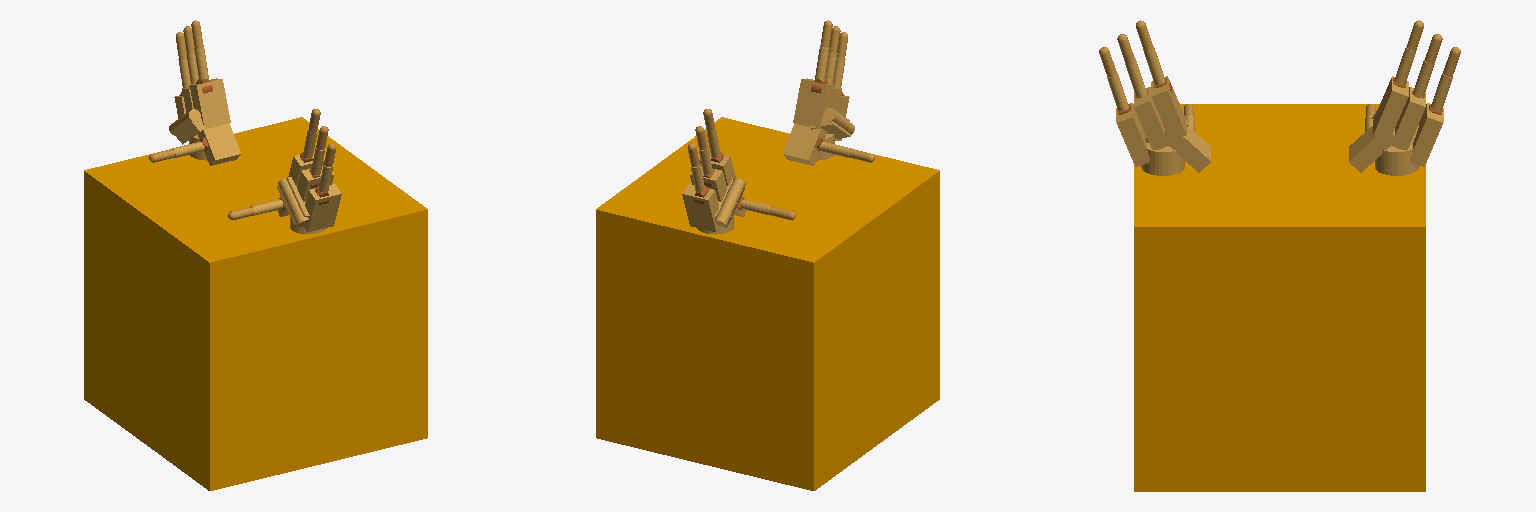
--- Facts derived from the render (not from the file) ---
Views: 3 orthographic renders of the robot side by side, from view 1: azimuth 30°, elevation 25°; view 2: azimuth 150°, elevation 25°; view 3: azimuth 270°, elevation 25°.
Robot: humanoid — 69 links, 68 joints (24 revolute, 44 fixed); root link base; default pose: every joint at zero.
Visible links, largest first — view 1: base, right_palm, left_palm; view 2: base, left_palm, right_palm; view 3: base, right_palm, left_palm.
Link boxes in pixels (x1,y1,x2,y2): base: (84,117,427,490); right_palm: (169,78,240,165); left_palm: (277,151,341,233); base: (596,117,939,490); left_palm: (783,78,854,165); right_palm: (682,151,746,233); base: (1134,104,1425,491); right_palm: (1349,76,1443,175); left_palm: (1116,76,1210,175).
Size in the robot's own frame: 0.5 by 0.6197 by 0.7732 metres.
Geometry: primitives only (box / cylinder / sphere), no mesh files.

URDF robot description (humanoid):
<?xml version="1.0" ?>
<!-- =================================================================================== -->
<!-- |    This document was autogenerated by xacro from /tmp/buildd/sandia-hand-5.1.14/ros/sandia_hand_description/robots/sandia_hand_both_on_box.urdf.xacro | -->
<!-- |    EDITING THIS FILE BY HAND IS NOT RECOMMENDED                                 | -->
<!-- =================================================================================== -->
<robot name="humanoid" xmlns:controller="http://playerstage.sourceforge.net/gazebo/xmlschema/#controller" xmlns:interface="http://playerstage.sourceforge.net/gazebo/xmlschema/#interface" xmlns:sensor="http://playerstage.sourceforge.net/gazebo/xmlschema/#sensor" xmlns:xacro="http://www.ros.org/wiki/xacro">
  <!-- Commenting out urdf with meshes, using simple collision shapes instead -->
  <!--<include filename="$(find sandia_hand_description)/urdf/sandia_hand.urdf.xacro" />-->
  <link name="base">
    <inertial>
      <mass value="0.1"/>
      <origin rpy="0 0 0" xyz="0 0 0.25"/>
      <inertia ixx="0.01" ixy="0" ixz="0" iyy="0.01" iyz="0" izz="0.01"/>
    </inertial>
    <visual>
      <origin rpy="0 0 0" xyz="0 0 0.25"/>
      <geometry>
        <box size="0.5 0.5 0.5"/>
      </geometry>
    </visual>
    <collision>
      <origin rpy="0 0 0" xyz="0 0 0.25"/>
      <geometry>
        <box size="0.5 0.5 0.5"/>
      </geometry>
    </collision>
  </link>
  <joint name="r_hand_base" type="fixed">
    <parent link="base"/>
    <child link="r_hand"/>
  </joint>
  <link name="r_hand"/>
  <joint name="l_hand_base" type="fixed">
    <parent link="base"/>
    <child link="l_hand"/>
  </joint>
  <link name="l_hand"/>
  <link name="right_palm">
    <origin rpy="0 0 0" xyz="0 0 0"/>
    <inertial>
      <mass value="1.303"/>
      <origin xyz="0 0 0"/>
      <!-- solid sphere with 5cm radius -->
      <inertia ixx="0.001303" ixy="0" ixz="0" iyy="0.001303" iyz="0" izz="0.001303"/>
    </inertial>
    <!-- begin simple shape approximation of palm -->
    <collision group="default">
      <origin rpy="0 1.57079632679 -0.9" xyz="0.069 0.016 0.038"/>
      <geometry>
        <cylinder length="0.100" radius="0.013"/>
      </geometry>
    </collision>
    <collision group="other">
      <origin rpy="0.41 0 -0.9" xyz="0.064 0.008 0.021"/>
      <geometry>
        <box size="0.09 .035 .05"/>
      </geometry>
    </collision>
    <collision group="other">
      <origin rpy="0 1.57079632679 0" xyz="0.02 0 -0.005"/>
      <geometry>
        <cylinder length="0.05" radius="0.038"/>
      </geometry>
    </collision>
    <collision group="other">
      <origin rpy="0 0 0.37" xyz="0.11 -0.01 -0.005"/>
      <geometry>
        <box size="0.09 .03 .06"/>
      </geometry>
    </collision>
    <collision group="other">
      <origin rpy="0 0 0.37" xyz="0.09 0.02 -0.005"/>
      <geometry>
        <box size="0.09 .03 .06"/>
      </geometry>
    </collision>
    <collision group="other">
      <origin rpy="0 0 0.37" xyz="0.060 0.05 -0.005"/>
      <geometry>
        <box size="0.09 .03 .06"/>
      </geometry>
    </collision>
    <collision group="other">
      <origin rpy="0 0 0.79" xyz="0.044 -0.04 -0.005"/>
      <geometry>
        <box size="0.09 .03 .06"/>
      </geometry>
    </collision>
    <!--   end simple shape approximation of palm -->
    <!-- begin visual shape approximation of palm -->
    <visual>
      <origin rpy="0 1.57079632679 -0.9" xyz="0.069 0.016 0.038"/>
      <geometry>
        <cylinder length="0.100" radius="0.013"/>
      </geometry>
      <material name="right_sandia_hand_skin">
        <color rgba="0.835 0.655 0.345 1.0"/>
      </material>
    </visual>
    <visual>
      <origin rpy="0.41 0 -0.9" xyz="0.064 0.008 0.021"/>
      <geometry>
        <box size="0.09 .035 .05"/>
      </geometry>
      <material name="right_sandia_hand_skin">
        <color rgba="0.835 0.655 0.345 1.0"/>
      </material>
    </visual>
    <visual>
      <origin rpy="0 1.57079632679 0" xyz="0.02 0 -0.005"/>
      <geometry>
        <cylinder length="0.05" radius="0.038"/>
      </geometry>
      <material name="right_sandia_hand_skin">
        <color rgba="0.835 0.655 0.345 1.0"/>
      </material>
    </visual>
    <visual>
      <origin rpy="0 0 0.37" xyz="0.11 -0.01 -0.005"/>
      <geometry>
        <box size="0.09 .03 .06"/>
      </geometry>
      <material name="right_sandia_hand_skin">
        <color rgba="0.835 0.655 0.345 1.0"/>
      </material>
    </visual>
    <visual>
      <origin rpy="0 0 0.37" xyz="0.09 0.02 -0.005"/>
      <geometry>
        <box size="0.09 .03 .06"/>
      </geometry>
      <material name="right_sandia_hand_skin">
        <color rgba="0.835 0.655 0.345 1.0"/>
      </material>
    </visual>
    <visual>
      <origin rpy="0 0 0.37" xyz="0.060 0.05 -0.005"/>
      <geometry>
        <box size="0.09 .03 .06"/>
      </geometry>
      <material name="right_sandia_hand_skin">
        <color rgba="0.835 0.655 0.345 1.0"/>
      </material>
    </visual>
    <visual>
      <origin rpy="0 0 0.79" xyz="0.044 -0.04 -0.005"/>
      <geometry>
        <box size="0.09 .03 .06"/>
      </geometry>
      <material name="right_sandia_hand_skin">
        <color rgba="0.835 0.655 0.345 1.0"/>
      </material>
    </visual>
    <!--   end visual shape approximation of palm -->
    <!-- begin collision mesh of f2 ->
      <collision group="default">
        <origin xyz="0 0 0" rpy="0 0 0"/>
        <geometry>
          <mesh filename="package://sandia_hand_description/meshes/palm.stl"/>
        </geometry>
      </collision>
      <!-   end collision mesh of f2 -->
    <!-- begin visual mesh of f2    ->
      <visual>
        <origin xyz="0 0 0" rpy="0 0 0"/>
        <geometry>
          <mesh filename="package://sandia_hand_description/meshes/palm.stl"/>
        </geometry>
        <material name="${side}_sandia_hand_skin">
          <color rgba="0.835 0.655 0.345 1.0"/>
        </material>
      </visual>
      <!-   end visual mesh of f2 -->
  </link>
  <joint name="right_sandia_hand_joint" type="fixed">
    <parent link="r_hand"/>
    <child link="right_palm"/>
    <origin rpy="0 -1.57079 0" xyz="0 0.2 0.5"/>
  </joint>
  <link name="right_f0_base">
    <origin rpy="0 0 0" xyz="0 0 0"/>
    <inertial>
      <!-- total mass is 2.303 kg, palm is about 1.303 kg, distribute the rest into _base -->
      <mass value="0.250"/>
      <!-- (2.303 - 1.303) / 4 -->
      <origin xyz="0 0 0"/>
      <!-- model as sphere with radius of 1cm -->
      <inertia ixx="0.00001" ixy="0" ixz="0" iyy="0.00001" iyz="0" izz="0.00001"/>
    </inertial>
  </link>
  <link name="right_f0_fixed_accel">
    <origin rpy="0 0 0" xyz="0 0 0"/>
    <inertial>
      <mass value="0.01"/>
      <origin xyz="0 0 0"/>
      <inertia ixx="0.000001" ixy="0" ixz="0" iyy="0.000001" iyz="0" izz="0.000001"/>
    </inertial>
  </link>
  <link name="right_f0_0">
    <origin rpy="0 0 0" xyz="0 0 0"/>
    <inertial>
      <mass value="0.106"/>
      <!-- F1 -->
      <origin xyz="0 0 0"/>
      <!-- solid cylinder -->
      <inertia ixx="0.000011925" ixy="0" ixz="0" iyy="0.00011505" iyz="0" izz="0.00011505"/>
    </inertial>
    <!-- begin simple shape approximation of f0 -->
    <collision group="default">
      <origin rpy="0 0 0" xyz="0 0 0.003"/>
      <geometry>
        <cylinder length="0.023" radius="0.015"/>
      </geometry>
    </collision>
    <collision group="other">
      <origin rpy="1.57079632679 0 0" xyz="0.011 0 0.003"/>
      <geometry>
        <cylinder length="0.023" radius="0.01"/>
      </geometry>
    </collision>
    <!--   end simple shape approximation of f0 -->
    <!-- begin visual shape approximation of f0 -->
    <visual>
      <origin rpy="0 0 0" xyz="0 0 0.003"/>
      <geometry>
        <cylinder length="0.023" radius="0.015"/>
      </geometry>
      <material name="right_sandia_hand_skin_suntan">
        <color rgba="0.7 0.4 0.2 1.0"/>
      </material>
    </visual>
    <visual>
      <origin rpy="1.57079632679 0 0" xyz="0.011 0 0.003"/>
      <geometry>
        <cylinder length="0.023" radius="0.01"/>
      </geometry>
      <material name="right_sandia_hand_skin_suntan">
        <color rgba="0.7 0.4 0.2 1.0"/>
      </material>
    </visual>
    <!--   end visual shape approximation of f0 -->
    <!-- begin collision mesh of f0 ->
      <collision group="default">
        <origin xyz="0 0 0" rpy="0 0 0"/>
        <geometry>
          <mesh filename="package://sandia_hand_description/meshes/f0.stl"/>
        </geometry>
      </collision>
      <!-   end collision mesh of f0 -->
    <!-- begin visual mesh of f0 ->
      <visual>
        <origin xyz="0 0 0" rpy="0 0 0"/>
        <geometry>
          <mesh filename="package://sandia_hand_description/meshes/f0.stl"/>
        </geometry>
        <material name="${side}_sandia_hand_skin_suntan">
          <color rgba="0.7 0.4 0.2 1.0"/>
        </material>
      </visual>
      <!-   end visual mesh of f0 -->
  </link>
  <link name="right_f0_1">
    <origin rpy="0 0 0" xyz="0 0 0"/>
    <inertial>
      <mass value="0.033"/>
      <!-- F2 -->
      <origin xyz="0 0 0"/>
      <!-- solid cylinder -->
      <inertia ixx="0.00000165" ixy="0" ixz="0" iyy="0.00001316975" iyz="0" izz="0.00001316975"/>
    </inertial>
    <!-- begin simple shape approximation of f1 -->
    <collision group="default">
      <origin rpy="0 1.57079632679 0" xyz="0.024 0 0"/>
      <geometry>
        <cylinder length="0.067" radius="0.01"/>
      </geometry>
    </collision>
    <!--   end simple shape approximation of f1 -->
    <!-- begin visual shape approximation of f1 -->
    <visual>
      <origin rpy="0 1.57079632679 0" xyz="0.024 0 0"/>
      <geometry>
        <cylinder length="0.067" radius="0.01"/>
      </geometry>
      <material name="right_sandia_hand_skin">
        <color rgba="0.835 0.655 0.345 1.0"/>
      </material>
    </visual>
    <!--   end visual shape approximation of f1 -->
    <!-- begin collision mesh of f1 ->
      <collision group="default">
        <origin xyz="0 0 0" rpy="0 0 0"/>
        <geometry>
          <mesh filename="package://sandia_hand_description/meshes/f1.stl"/>
        </geometry>
      </collision>
      <!-   end collision mesh of f1 -->
    <!-- begin visual mesh of f1 ->
      <visual>
        <origin xyz="0 0 0" rpy="0 0 0"/>
        <geometry>
          <mesh filename="package://sandia_hand_description/meshes/f1.stl"/>
        </geometry>
        <material name="${side}_sandia_hand_skin">
          <color rgba="0.835 0.655 0.345 1.0"/>
        </material>
      </visual>
      <!-   end visual mesh of f1 -->
  </link>
  <link name="right_f0_1_accel">
    <origin rpy="0 0 0" xyz="0 0 0"/>
    <inertial>
      <mass value="0.01"/>
      <origin xyz="0 0 0"/>
      <inertia ixx="0.000001" ixy="0" ixz="0" iyy="0.000001" iyz="0" izz="0.000001"/>
    </inertial>
  </link>
  <link name="right_f0_2">
    <origin rpy="0 0 0" xyz="0 0 0"/>
    <inertial>
      <mass value="0.033"/>
      <!-- F3 -->
      <origin xyz="0 0 0"/>
      <!-- solid cylinder -->
      <inertia ixx="0.0000013365" ixy="0" ixz="0" iyy="0.000009603" iyz="0" izz="0.000009603"/>
    </inertial>
    <!-- begin simple shape approximation of f2 -->
    <collision group="default">
      <origin rpy="0 1.57079632679 0" xyz="0.024 0 0"/>
      <geometry>
        <cylinder length="0.057" radius="0.009"/>
      </geometry>
    </collision>
    <collision group="other">
      <origin rpy="0 0 0" xyz="0.052 0 0"/>
      <geometry>
        <sphere radius="0.009"/>
      </geometry>
    </collision>
    <!--   end simple shape approximation of f2 -->
    <!-- begin visual shape approximation of f2 -->
    <visual>
      <origin rpy="0 1.57079632679 0" xyz="0.024 0 0"/>
      <geometry>
        <cylinder length="0.057" radius="0.009"/>
      </geometry>
      <material name="right_sandia_hand_skin_suntan">
        <color rgba="0.8 0.6 0.3 1.0"/>
      </material>
    </visual>
    <visual>
      <origin rpy="0 0 0" xyz="0.052 0 0"/>
      <geometry>
        <sphere radius="0.009"/>
      </geometry>
      <material name="right_sandia_hand_skin_suntan">
        <color rgba="0.8 0.6 0.3 1.0"/>
      </material>
    </visual>
    <!-- begin collision mesh of f2    ->
      <collision group="default">
        <origin xyz="0 0 0" rpy="0 0 0"/>
        <geometry>
          <mesh filename="package://sandia_hand_description/meshes/f2.stl"/>
        </geometry>
      </collision>
      <!-   end collision mesh of f2 -->
    <!-- begin visual mesh of f2    ->
      <visual>
        <origin xyz="0 0 0" rpy="0 0 0"/>
        <geometry>
          <mesh filename="package://sandia_hand_description/meshes/f2.stl"/>
        </geometry>
        <material name="${side}_sandia_hand_skin_suntan">
          <color rgba="0.8 0.6 0.3 1.0"/>
        </material>
      </visual>
      <!-   end visual mesh of f2 -->
  </link>
  <link name="right_f0_2_accel">
    <origin rpy="0 0 0" xyz="0 0 0"/>
    <inertial>
      <mass value="0.01"/>
      <origin xyz="0 0 0"/>
      <inertia ixx="0.000001" ixy="0" ixz="0" iyy="0.000001" iyz="0" izz="0.000001"/>
    </inertial>
  </link>
  <joint name="right_f0_base" type="fixed">
    <parent link="right_palm"/>
    <child link="right_f0_base"/>
    <origin rpy="0 0 0.3" xyz="0.14 0.0 0"/>
  </joint>
  <joint name="right_f0_j0" type="revolute">
    <axis xyz="0 0 1"/>
    <parent link="right_f0_base"/>
    <child link="right_f0_0"/>
    <limit effort="11" lower="-1.57079632679" upper="1.57079632679" velocity="-1"/>
    <safety_controller k_position="1000.0" k_velocity="1000.0" soft_lower_limit="-11.57079" soft_upper_limit="11.57079"/>
    <dynamics damping="1.0"/>
    <origin rpy="0 0 0" xyz="0 0 0"/>
  </joint>
  <joint name="right_f0_j1" type="revolute">
    <axis xyz="0 0 1"/>
    <parent link="right_f0_0"/>
    <child link="right_f0_1"/>
    <limit effort="28" lower="-1.57079632679" upper="1.57079632679" velocity="-1"/>
    <safety_controller k_position="1000.0" k_velocity="1000.0" soft_lower_limit="-11.57079" soft_upper_limit="11.57079"/>
    <dynamics damping="1.0"/>
    <origin rpy="1.57079632679 0 0" xyz="0.028 0 0"/>
  </joint>
  <joint name="right_f0_j2" type="revolute">
    <axis xyz="0 0 1"/>
    <parent link="right_f0_1"/>
    <child link="right_f0_2"/>
    <origin rpy="0 0 0" xyz="0.05 0 0"/>
    <safety_controller k_position="1000.0" k_velocity="1000.0" soft_lower_limit="-11.57079" soft_upper_limit="11.57079"/>
    <dynamics damping="1.0"/>
    <limit effort="28" lower="-1.57079632679" upper="1.57079632679" velocity="-1"/>
  </joint>
  <joint name="right_f0_fixed_accel" type="fixed">
    <parent link="right_f0_base"/>
    <child link="right_f0_fixed_accel"/>
    <origin rpy="0 0 0" xyz="-0.05 0 0"/>
  </joint>
  <joint name="right_f0_1_accel" type="fixed">
    <parent link="right_f0_1"/>
    <child link="right_f0_1_accel"/>
    <origin rpy="-1.57079632679 0 0" xyz="0.03 0 0"/>
  </joint>
  <joint name="right_f0_2_accel" type="fixed">
    <parent link="right_f0_2"/>
    <child link="right_f0_2_accel"/>
    <origin rpy="-1.57079632679 0 0" xyz="0.04 0 0"/>
  </joint>
  <transmission name="right_f0_j0" type="pr2_mechanism_model/SimpleTransmission">
    <joint name="right_f0_j0"/>
    <actuator name="right_f0_j0_motor"/>
    <mechanicalReduction>1</mechanicalReduction>
  </transmission>
  <transmission name="right_f0_j1" type="pr2_mechanism_model/SimpleTransmission">
    <joint name="right_f0_j1"/>
    <actuator name="right_f0_j1_motor"/>
    <mechanicalReduction>1</mechanicalReduction>
  </transmission>
  <transmission name="right_f0_j2" type="pr2_mechanism_model/SimpleTransmission">
    <joint name="right_f0_j2"/>
    <actuator name="right_f0_j2_motor"/>
    <mechanicalReduction>1</mechanicalReduction>
  </transmission>
  <gazebo reference="right_f0_base">
    <mu1>0.9</mu1>
    <mu2>0.9</mu2>
    <kp>1000000.0</kp>
    <kd>1.0</kd>
    <maxVel>0.1</maxVel>
    <minDepth>0.001</minDepth>
    <material>Gazebo/FlatBlack</material>
  </gazebo>
  <gazebo reference="right_f0_0">
    <mu1>0.9</mu1>
    <mu2>0.9</mu2>
    <kp>1000000.0</kp>
    <kd>1.0</kd>
    <maxVel>0.1</maxVel>
    <minDepth>0.003</minDepth>
    <maxContacts>1</maxContacts>
    <material>Gazebo/FlatBlack</material>
  </gazebo>
  <gazebo reference="right_f0_1">
    <mu1>0.9</mu1>
    <mu2>0.9</mu2>
    <kp>1000000.0</kp>
    <kd>1.0</kd>
    <maxVel>0.1</maxVel>
    <minDepth>0.003</minDepth>
    <maxContacts>1</maxContacts>
    <material>Gazebo/FlatBlack</material>
  </gazebo>
  <gazebo reference="right_f0_2">
    <mu1>0.9</mu1>
    <mu2>0.9</mu2>
    <kp>1000000.0</kp>
    <kd>1.0</kd>
    <maxVel>0.1</maxVel>
    <minDepth>0.003</minDepth>
    <maxContacts>1</maxContacts>
    <material>Gazebo/FlatBlack</material>
  </gazebo>
  <gazebo reference="right_f0_j0">
    <cfmDamping>1</cfmDamping>
  </gazebo>
  <gazebo reference="right_f0_j1">
    <cfmDamping>1</cfmDamping>
  </gazebo>
  <gazebo reference="right_f0_j2">
    <cfmDamping>1</cfmDamping>
  </gazebo>
  <link name="right_f1_base">
    <origin rpy="0 0 0" xyz="0 0 0"/>
    <inertial>
      <!-- total mass is 2.303 kg, palm is about 1.303 kg, distribute the rest into _base -->
      <mass value="0.250"/>
      <!-- (2.303 - 1.303) / 4 -->
      <origin xyz="0 0 0"/>
      <!-- model as sphere with radius of 1cm -->
      <inertia ixx="0.00001" ixy="0" ixz="0" iyy="0.00001" iyz="0" izz="0.00001"/>
    </inertial>
  </link>
  <link name="right_f1_fixed_accel">
    <origin rpy="0 0 0" xyz="0 0 0"/>
    <inertial>
      <mass value="0.01"/>
      <origin xyz="0 0 0"/>
      <inertia ixx="0.000001" ixy="0" ixz="0" iyy="0.000001" iyz="0" izz="0.000001"/>
    </inertial>
  </link>
  <link name="right_f1_0">
    <origin rpy="0 0 0" xyz="0 0 0"/>
    <inertial>
      <mass value="0.106"/>
      <!-- F1 -->
      <origin xyz="0 0 0"/>
      <!-- solid cylinder -->
      <inertia ixx="0.000011925" ixy="0" ixz="0" iyy="0.00011505" iyz="0" izz="0.00011505"/>
    </inertial>
    <!-- begin simple shape approximation of f0 -->
    <collision group="default">
      <origin rpy="0 0 0" xyz="0 0 0.003"/>
      <geometry>
        <cylinder length="0.023" radius="0.015"/>
      </geometry>
    </collision>
    <collision group="other">
      <origin rpy="1.57079632679 0 0" xyz="0.011 0 0.003"/>
      <geometry>
        <cylinder length="0.023" radius="0.01"/>
      </geometry>
    </collision>
    <!--   end simple shape approximation of f0 -->
    <!-- begin visual shape approximation of f0 -->
    <visual>
      <origin rpy="0 0 0" xyz="0 0 0.003"/>
      <geometry>
        <cylinder length="0.023" radius="0.015"/>
      </geometry>
      <material name="right_sandia_hand_skin_suntan">
        <color rgba="0.7 0.4 0.2 1.0"/>
      </material>
    </visual>
    <visual>
      <origin rpy="1.57079632679 0 0" xyz="0.011 0 0.003"/>
      <geometry>
        <cylinder length="0.023" radius="0.01"/>
      </geometry>
      <material name="right_sandia_hand_skin_suntan">
        <color rgba="0.7 0.4 0.2 1.0"/>
      </material>
    </visual>
    <!--   end visual shape approximation of f0 -->
    <!-- begin collision mesh of f0 ->
      <collision group="default">
        <origin xyz="0 0 0" rpy="0 0 0"/>
        <geometry>
          <mesh filename="package://sandia_hand_description/meshes/f0.stl"/>
        </geometry>
      </collision>
      <!-   end collision mesh of f0 -->
    <!-- begin visual mesh of f0 ->
      <visual>
        <origin xyz="0 0 0" rpy="0 0 0"/>
        <geometry>
          <mesh filename="package://sandia_hand_description/meshes/f0.stl"/>
        </geometry>
        <material name="${side}_sandia_hand_skin_suntan">
          <color rgba="0.7 0.4 0.2 1.0"/>
        </material>
      </visual>
      <!-   end visual mesh of f0 -->
  </link>
  <link name="right_f1_1">
    <origin rpy="0 0 0" xyz="0 0 0"/>
    <inertial>
      <mass value="0.033"/>
      <!-- F2 -->
      <origin xyz="0 0 0"/>
      <!-- solid cylinder -->
      <inertia ixx="0.00000165" ixy="0" ixz="0" iyy="0.00001316975" iyz="0" izz="0.00001316975"/>
    </inertial>
    <!-- begin simple shape approximation of f1 -->
    <collision group="default">
      <origin rpy="0 1.57079632679 0" xyz="0.024 0 0"/>
      <geometry>
        <cylinder length="0.067" radius="0.01"/>
      </geometry>
    </collision>
    <!--   end simple shape approximation of f1 -->
    <!-- begin visual shape approximation of f1 -->
    <visual>
      <origin rpy="0 1.57079632679 0" xyz="0.024 0 0"/>
      <geometry>
        <cylinder length="0.067" radius="0.01"/>
      </geometry>
      <material name="right_sandia_hand_skin">
        <color rgba="0.835 0.655 0.345 1.0"/>
      </material>
    </visual>
    <!--   end visual shape approximation of f1 -->
    <!-- begin collision mesh of f1 ->
      <collision group="default">
        <origin xyz="0 0 0" rpy="0 0 0"/>
        <geometry>
          <mesh filename="package://sandia_hand_description/meshes/f1.stl"/>
        </geometry>
      </collision>
      <!-   end collision mesh of f1 -->
    <!-- begin visual mesh of f1 ->
      <visual>
        <origin xyz="0 0 0" rpy="0 0 0"/>
        <geometry>
          <mesh filename="package://sandia_hand_description/meshes/f1.stl"/>
        </geometry>
        <material name="${side}_sandia_hand_skin">
          <color rgba="0.835 0.655 0.345 1.0"/>
        </material>
      </visual>
      <!-   end visual mesh of f1 -->
  </link>
  <link name="right_f1_1_accel">
    <origin rpy="0 0 0" xyz="0 0 0"/>
    <inertial>
      <mass value="0.01"/>
      <origin xyz="0 0 0"/>
      <inertia ixx="0.000001" ixy="0" ixz="0" iyy="0.000001" iyz="0" izz="0.000001"/>
    </inertial>
  </link>
  <link name="right_f1_2">
    <origin rpy="0 0 0" xyz="0 0 0"/>
    <inertial>
      <mass value="0.033"/>
      <!-- F3 -->
      <origin xyz="0 0 0"/>
      <!-- solid cylinder -->
      <inertia ixx="0.0000013365" ixy="0" ixz="0" iyy="0.000009603" iyz="0" izz="0.000009603"/>
    </inertial>
    <!-- begin simple shape approximation of f2 -->
    <collision group="default">
      <origin rpy="0 1.57079632679 0" xyz="0.024 0 0"/>
      <geometry>
        <cylinder length="0.057" radius="0.009"/>
      </geometry>
    </collision>
    <collision group="other">
      <origin rpy="0 0 0" xyz="0.052 0 0"/>
      <geometry>
        <sphere radius="0.009"/>
      </geometry>
    </collision>
    <!--   end simple shape approximation of f2 -->
    <!-- begin visual shape approximation of f2 -->
    <visual>
      <origin rpy="0 1.57079632679 0" xyz="0.024 0 0"/>
      <geometry>
        <cylinder length="0.057" radius="0.009"/>
      </geometry>
      <material name="right_sandia_hand_skin_suntan">
        <color rgba="0.8 0.6 0.3 1.0"/>
      </material>
    </visual>
    <visual>
      <origin rpy="0 0 0" xyz="0.052 0 0"/>
      <geometry>
        <sphere radius="0.009"/>
      </geometry>
      <material name="right_sandia_hand_skin_suntan">
        <color rgba="0.8 0.6 0.3 1.0"/>
      </material>
    </visual>
    <!-- begin collision mesh of f2    ->
      <collision group="default">
        <origin xyz="0 0 0" rpy="0 0 0"/>
        <geometry>
          <mesh filename="package://sandia_hand_description/meshes/f2.stl"/>
        </geometry>
      </collision>
      <!-   end collision mesh of f2 -->
    <!-- begin visual mesh of f2    ->
      <visual>
        <origin xyz="0 0 0" rpy="0 0 0"/>
        <geometry>
          <mesh filename="package://sandia_hand_description/meshes/f2.stl"/>
        </geometry>
        <material name="${side}_sandia_hand_skin_suntan">
          <color rgba="0.8 0.6 0.3 1.0"/>
        </material>
      </visual>
      <!-   end visual mesh of f2 -->
  </link>
  <link name="right_f1_2_accel">
    <origin rpy="0 0 0" xyz="0 0 0"/>
    <inertial>
      <mass value="0.01"/>
      <origin xyz="0 0 0"/>
      <inertia ixx="0.000001" ixy="0" ixz="0" iyy="0.000001" iyz="0" izz="0.000001"/>
    </inertial>
  </link>
  <joint name="right_f1_base" type="fixed">
    <parent link="right_palm"/>
    <child link="right_f1_base"/>
    <origin rpy="0 0 0.3" xyz="0.115 0.03122 0"/>
  </joint>
  <joint name="right_f1_j0" type="revolute">
    <axis xyz="0 0 1"/>
    <parent link="right_f1_base"/>
    <child link="right_f1_0"/>
    <limit effort="11" lower="-1.57079632679" upper="1.57079632679" velocity="-1"/>
    <safety_controller k_position="1000.0" k_velocity="1000.0" soft_lower_limit="-11.57079" soft_upper_limit="11.57079"/>
    <dynamics damping="1.0"/>
    <origin rpy="0 0 0" xyz="0 0 0"/>
  </joint>
  <joint name="right_f1_j1" type="revolute">
    <axis xyz="0 0 1"/>
    <parent link="right_f1_0"/>
    <child link="right_f1_1"/>
    <limit effort="28" lower="-1.57079632679" upper="1.57079632679" velocity="-1"/>
    <safety_controller k_position="1000.0" k_velocity="1000.0" soft_lower_limit="-11.57079" soft_upper_limit="11.57079"/>
    <dynamics damping="1.0"/>
    <origin rpy="1.57079632679 0 0" xyz="0.028 0 0"/>
  </joint>
  <joint name="right_f1_j2" type="revolute">
    <axis xyz="0 0 1"/>
    <parent link="right_f1_1"/>
    <child link="right_f1_2"/>
    <origin rpy="0 0 0" xyz="0.05 0 0"/>
    <safety_controller k_position="1000.0" k_velocity="1000.0" soft_lower_limit="-11.57079" soft_upper_limit="11.57079"/>
    <dynamics damping="1.0"/>
    <limit effort="28" lower="-1.57079632679" upper="1.57079632679" velocity="-1"/>
  </joint>
  <joint name="right_f1_fixed_accel" type="fixed">
    <parent link="right_f1_base"/>
    <child link="right_f1_fixed_accel"/>
    <origin rpy="0 0 0" xyz="-0.05 0 0"/>
  </joint>
  <joint name="right_f1_1_accel" type="fixed">
    <parent link="right_f1_1"/>
    <child link="right_f1_1_accel"/>
    <origin rpy="-1.57079632679 0 0" xyz="0.03 0 0"/>
  </joint>
  <joint name="right_f1_2_accel" type="fixed">
    <parent link="right_f1_2"/>
    <child link="right_f1_2_accel"/>
    <origin rpy="-1.57079632679 0 0" xyz="0.04 0 0"/>
  </joint>
  <transmission name="right_f1_j0" type="pr2_mechanism_model/SimpleTransmission">
    <joint name="right_f1_j0"/>
    <actuator name="right_f1_j0_motor"/>
    <mechanicalReduction>1</mechanicalReduction>
  </transmission>
  <transmission name="right_f1_j1" type="pr2_mechanism_model/SimpleTransmission">
    <joint name="right_f1_j1"/>
    <actuator name="right_f1_j1_motor"/>
    <mechanicalReduction>1</mechanicalReduction>
  </transmission>
  <transmission name="right_f1_j2" type="pr2_mechanism_model/SimpleTransmission">
    <joint name="right_f1_j2"/>
    <actuator name="right_f1_j2_motor"/>
    <mechanicalReduction>1</mechanicalReduction>
  </transmission>
  <gazebo reference="right_f1_base">
    <mu1>0.9</mu1>
    <mu2>0.9</mu2>
    <kp>1000000.0</kp>
    <kd>1.0</kd>
    <maxVel>0.1</maxVel>
    <minDepth>0.001</minDepth>
    <material>Gazebo/FlatBlack</material>
  </gazebo>
  <gazebo reference="right_f1_0">
    <mu1>0.9</mu1>
    <mu2>0.9</mu2>
    <kp>1000000.0</kp>
    <kd>1.0</kd>
    <maxVel>0.1</maxVel>
    <minDepth>0.003</minDepth>
    <maxContacts>1</maxContacts>
    <material>Gazebo/FlatBlack</material>
  </gazebo>
  <gazebo reference="right_f1_1">
    <mu1>0.9</mu1>
    <mu2>0.9</mu2>
    <kp>1000000.0</kp>
    <kd>1.0</kd>
    <maxVel>0.1</maxVel>
    <minDepth>0.003</minDepth>
    <maxContacts>1</maxContacts>
    <material>Gazebo/FlatBlack</material>
  </gazebo>
  <gazebo reference="right_f1_2">
    <mu1>0.9</mu1>
    <mu2>0.9</mu2>
    <kp>1000000.0</kp>
    <kd>1.0</kd>
    <maxVel>0.1</maxVel>
    <minDepth>0.003</minDepth>
    <maxContacts>1</maxContacts>
    <material>Gazebo/FlatBlack</material>
  </gazebo>
  <gazebo reference="right_f1_j0">
    <cfmDamping>1</cfmDamping>
  </gazebo>
  <gazebo reference="right_f1_j1">
    <cfmDamping>1</cfmDamping>
  </gazebo>
  <gazebo reference="right_f1_j2">
    <cfmDamping>1</cfmDamping>
  </gazebo>
  <link name="right_f2_base">
    <origin rpy="0 0 0" xyz="0 0 0"/>
    <inertial>
      <!-- total mass is 2.303 kg, palm is about 1.303 kg, distribute the rest into _base -->
      <mass value="0.250"/>
      <!-- (2.303 - 1.303) / 4 -->
      <origin xyz="0 0 0"/>
      <!-- model as sphere with radius of 1cm -->
      <inertia ixx="0.00001" ixy="0" ixz="0" iyy="0.00001" iyz="0" izz="0.00001"/>
    </inertial>
  </link>
  <link name="right_f2_fixed_accel">
    <origin rpy="0 0 0" xyz="0 0 0"/>
    <inertial>
      <mass value="0.01"/>
      <origin xyz="0 0 0"/>
      <inertia ixx="0.000001" ixy="0" ixz="0" iyy="0.000001" iyz="0" izz="0.000001"/>
    </inertial>
  </link>
  <link name="right_f2_0">
    <origin rpy="0 0 0" xyz="0 0 0"/>
    <inertial>
      <mass value="0.106"/>
      <!-- F1 -->
      <origin xyz="0 0 0"/>
      <!-- solid cylinder -->
      <inertia ixx="0.000011925" ixy="0" ixz="0" iyy="0.00011505" iyz="0" izz="0.00011505"/>
    </inertial>
    <!-- begin simple shape approximation of f0 -->
    <collision group="default">
      <origin rpy="0 0 0" xyz="0 0 0.003"/>
      <geometry>
        <cylinder length="0.023" radius="0.015"/>
      </geometry>
    </collision>
    <collision group="other">
      <origin rpy="1.57079632679 0 0" xyz="0.011 0 0.003"/>
      <geometry>
        <cylinder length="0.023" radius="0.01"/>
      </geometry>
    </collision>
    <!--   end simple shape approximation of f0 -->
    <!-- begin visual shape approximation of f0 -->
    <visual>
      <origin rpy="0 0 0" xyz="0 0 0.003"/>
      <geometry>
        <cylinder length="0.023" radius="0.015"/>
      </geometry>
      <material name="right_sandia_hand_skin_suntan">
        <color rgba="0.7 0.4 0.2 1.0"/>
      </material>
    </visual>
    <visual>
      <origin rpy="1.57079632679 0 0" xyz="0.011 0 0.003"/>
      <geometry>
        <cylinder length="0.023" radius="0.01"/>
      </geometry>
      <material name="right_sandia_hand_skin_suntan">
        <color rgba="0.7 0.4 0.2 1.0"/>
      </material>
    </visual>
    <!--   end visual shape approximation of f0 -->
    <!-- begin collision mesh of f0 ->
      <collision group="default">
        <origin xyz="0 0 0" rpy="0 0 0"/>
        <geometry>
          <mesh filename="package://sandia_hand_description/meshes/f0.stl"/>
        </geometry>
      </collision>
      <!-   end collision mesh of f0 -->
    <!-- begin visual mesh of f0 ->
      <visual>
        <origin xyz="0 0 0" rpy="0 0 0"/>
        <geometry>
          <mesh filename="package://sandia_hand_description/meshes/f0.stl"/>
        </geometry>
        <material name="${side}_sandia_hand_skin_suntan">
          <color rgba="0.7 0.4 0.2 1.0"/>
        </material>
      </visual>
      <!-   end visual mesh of f0 -->
  </link>
  <link name="right_f2_1">
    <origin rpy="0 0 0" xyz="0 0 0"/>
    <inertial>
      <mass value="0.033"/>
      <!-- F2 -->
      <origin xyz="0 0 0"/>
      <!-- solid cylinder -->
      <inertia ixx="0.00000165" ixy="0" ixz="0" iyy="0.00001316975" iyz="0" izz="0.00001316975"/>
    </inertial>
    <!-- begin simple shape approximation of f1 -->
    <collision group="default">
      <origin rpy="0 1.57079632679 0" xyz="0.024 0 0"/>
      <geometry>
        <cylinder length="0.067" radius="0.01"/>
      </geometry>
    </collision>
    <!--   end simple shape approximation of f1 -->
    <!-- begin visual shape approximation of f1 -->
    <visual>
      <origin rpy="0 1.57079632679 0" xyz="0.024 0 0"/>
      <geometry>
        <cylinder length="0.067" radius="0.01"/>
      </geometry>
      <material name="right_sandia_hand_skin">
        <color rgba="0.835 0.655 0.345 1.0"/>
      </material>
    </visual>
    <!--   end visual shape approximation of f1 -->
    <!-- begin collision mesh of f1 ->
      <collision group="default">
        <origin xyz="0 0 0" rpy="0 0 0"/>
        <geometry>
          <mesh filename="package://sandia_hand_description/meshes/f1.stl"/>
        </geometry>
      </collision>
      <!-   end collision mesh of f1 -->
    <!-- begin visual mesh of f1 ->
      <visual>
        <origin xyz="0 0 0" rpy="0 0 0"/>
        <geometry>
          <mesh filename="package://sandia_hand_description/meshes/f1.stl"/>
        </geometry>
        <material name="${side}_sandia_hand_skin">
          <color rgba="0.835 0.655 0.345 1.0"/>
        </material>
      </visual>
      <!-   end visual mesh of f1 -->
  </link>
  <link name="right_f2_1_accel">
    <origin rpy="0 0 0" xyz="0 0 0"/>
    <inertial>
      <mass value="0.01"/>
      <origin xyz="0 0 0"/>
      <inertia ixx="0.000001" ixy="0" ixz="0" iyy="0.000001" iyz="0" izz="0.000001"/>
    </inertial>
  </link>
  <link name="right_f2_2">
    <origin rpy="0 0 0" xyz="0 0 0"/>
    <inertial>
      <mass value="0.033"/>
      <!-- F3 -->
      <origin xyz="0 0 0"/>
      <!-- solid cylinder -->
      <inertia ixx="0.0000013365" ixy="0" ixz="0" iyy="0.000009603" iyz="0" izz="0.000009603"/>
    </inertial>
    <!-- begin simple shape approximation of f2 -->
    <collision group="default">
      <origin rpy="0 1.57079632679 0" xyz="0.024 0 0"/>
      <geometry>
        <cylinder length="0.057" radius="0.009"/>
      </geometry>
    </collision>
    <collision group="other">
      <origin rpy="0 0 0" xyz="0.052 0 0"/>
      <geometry>
        <sphere radius="0.009"/>
      </geometry>
    </collision>
    <!--   end simple shape approximation of f2 -->
    <!-- begin visual shape approximation of f2 -->
    <visual>
      <origin rpy="0 1.57079632679 0" xyz="0.024 0 0"/>
      <geometry>
        <cylinder length="0.057" radius="0.009"/>
      </geometry>
      <material name="right_sandia_hand_skin_suntan">
        <color rgba="0.8 0.6 0.3 1.0"/>
      </material>
    </visual>
    <visual>
      <origin rpy="0 0 0" xyz="0.052 0 0"/>
      <geometry>
        <sphere radius="0.009"/>
      </geometry>
      <material name="right_sandia_hand_skin_suntan">
        <color rgba="0.8 0.6 0.3 1.0"/>
      </material>
    </visual>
    <!-- begin collision mesh of f2    ->
      <collision group="default">
        <origin xyz="0 0 0" rpy="0 0 0"/>
        <geometry>
          <mesh filename="package://sandia_hand_description/meshes/f2.stl"/>
        </geometry>
      </collision>
      <!-   end collision mesh of f2 -->
    <!-- begin visual mesh of f2    ->
      <visual>
        <origin xyz="0 0 0" rpy="0 0 0"/>
        <geometry>
          <mesh filename="package://sandia_hand_description/meshes/f2.stl"/>
        </geometry>
        <material name="${side}_sandia_hand_skin_suntan">
          <color rgba="0.8 0.6 0.3 1.0"/>
        </material>
      </visual>
      <!-   end visual mesh of f2 -->
  </link>
  <link name="right_f2_2_accel">
    <origin rpy="0 0 0" xyz="0 0 0"/>
    <inertial>
      <mass value="0.01"/>
      <origin xyz="0 0 0"/>
      <inertia ixx="0.000001" ixy="0" ixz="0" iyy="0.000001" iyz="0" izz="0.000001"/>
    </inertial>
  </link>
  <joint name="right_f2_base" type="fixed">
    <parent link="right_palm"/>
    <child link="right_f2_base"/>
    <origin rpy="0 0 0.3" xyz="0.09 0.06245 0"/>
  </joint>
  <joint name="right_f2_j0" type="revolute">
    <axis xyz="0 0 1"/>
    <parent link="right_f2_base"/>
    <child link="right_f2_0"/>
    <limit effort="11" lower="-1.57079632679" upper="1.57079632679" velocity="-1"/>
    <safety_controller k_position="1000.0" k_velocity="1000.0" soft_lower_limit="-11.57079" soft_upper_limit="11.57079"/>
    <dynamics damping="1.0"/>
    <origin rpy="0 0 0" xyz="0 0 0"/>
  </joint>
  <joint name="right_f2_j1" type="revolute">
    <axis xyz="0 0 1"/>
    <parent link="right_f2_0"/>
    <child link="right_f2_1"/>
    <limit effort="28" lower="-1.57079632679" upper="1.57079632679" velocity="-1"/>
    <safety_controller k_position="1000.0" k_velocity="1000.0" soft_lower_limit="-11.57079" soft_upper_limit="11.57079"/>
    <dynamics damping="1.0"/>
    <origin rpy="1.57079632679 0 0" xyz="0.028 0 0"/>
  </joint>
  <joint name="right_f2_j2" type="revolute">
    <axis xyz="0 0 1"/>
    <parent link="right_f2_1"/>
    <child link="right_f2_2"/>
    <origin rpy="0 0 0" xyz="0.05 0 0"/>
    <safety_controller k_position="1000.0" k_velocity="1000.0" soft_lower_limit="-11.57079" soft_upper_limit="11.57079"/>
    <dynamics damping="1.0"/>
    <limit effort="28" lower="-1.57079632679" upper="1.57079632679" velocity="-1"/>
  </joint>
  <joint name="right_f2_fixed_accel" type="fixed">
    <parent link="right_f2_base"/>
    <child link="right_f2_fixed_accel"/>
    <origin rpy="0 0 0" xyz="-0.05 0 0"/>
  </joint>
  <joint name="right_f2_1_accel" type="fixed">
    <parent link="right_f2_1"/>
    <child link="right_f2_1_accel"/>
    <origin rpy="-1.57079632679 0 0" xyz="0.03 0 0"/>
  </joint>
  <joint name="right_f2_2_accel" type="fixed">
    <parent link="right_f2_2"/>
    <child link="right_f2_2_accel"/>
    <origin rpy="-1.57079632679 0 0" xyz="0.04 0 0"/>
  </joint>
  <transmission name="right_f2_j0" type="pr2_mechanism_model/SimpleTransmission">
    <joint name="right_f2_j0"/>
    <actuator name="right_f2_j0_motor"/>
    <mechanicalReduction>1</mechanicalReduction>
  </transmission>
  <transmission name="right_f2_j1" type="pr2_mechanism_model/SimpleTransmission">
    <joint name="right_f2_j1"/>
    <actuator name="right_f2_j1_motor"/>
    <mechanicalReduction>1</mechanicalReduction>
  </transmission>
  <transmission name="right_f2_j2" type="pr2_mechanism_model/SimpleTransmission">
    <joint name="right_f2_j2"/>
    <actuator name="right_f2_j2_motor"/>
    <mechanicalReduction>1</mechanicalReduction>
  </transmission>
  <gazebo reference="right_f2_base">
    <mu1>0.9</mu1>
    <mu2>0.9</mu2>
    <kp>1000000.0</kp>
    <kd>1.0</kd>
    <maxVel>0.1</maxVel>
    <minDepth>0.001</minDepth>
    <material>Gazebo/FlatBlack</material>
  </gazebo>
  <gazebo reference="right_f2_0">
    <mu1>0.9</mu1>
    <mu2>0.9</mu2>
    <kp>1000000.0</kp>
    <kd>1.0</kd>
    <maxVel>0.1</maxVel>
    <minDepth>0.003</minDepth>
    <maxContacts>1</maxContacts>
    <material>Gazebo/FlatBlack</material>
  </gazebo>
  <gazebo reference="right_f2_1">
    <mu1>0.9</mu1>
    <mu2>0.9</mu2>
    <kp>1000000.0</kp>
    <kd>1.0</kd>
    <maxVel>0.1</maxVel>
    <minDepth>0.003</minDepth>
    <maxContacts>1</maxContacts>
    <material>Gazebo/FlatBlack</material>
  </gazebo>
  <gazebo reference="right_f2_2">
    <mu1>0.9</mu1>
    <mu2>0.9</mu2>
    <kp>1000000.0</kp>
    <kd>1.0</kd>
    <maxVel>0.1</maxVel>
    <minDepth>0.003</minDepth>
    <maxContacts>1</maxContacts>
    <material>Gazebo/FlatBlack</material>
  </gazebo>
  <gazebo reference="right_f2_j0">
    <cfmDamping>1</cfmDamping>
  </gazebo>
  <gazebo reference="right_f2_j1">
    <cfmDamping>1</cfmDamping>
  </gazebo>
  <gazebo reference="right_f2_j2">
    <cfmDamping>1</cfmDamping>
  </gazebo>
  <link name="right_f3_base">
    <origin rpy="0 0 0" xyz="0 0 0"/>
    <inertial>
      <!-- total mass is 2.303 kg, palm is about 1.303 kg, distribute the rest into _base -->
      <mass value="0.250"/>
      <!-- (2.303 - 1.303) / 4 -->
      <origin xyz="0 0 0"/>
      <!-- model as sphere with radius of 1cm -->
      <inertia ixx="0.00001" ixy="0" ixz="0" iyy="0.00001" iyz="0" izz="0.00001"/>
    </inertial>
  </link>
  <link name="right_f3_fixed_accel">
    <origin rpy="0 0 0" xyz="0 0 0"/>
    <inertial>
      <mass value="0.01"/>
      <origin xyz="0 0 0"/>
      <inertia ixx="0.000001" ixy="0" ixz="0" iyy="0.000001" iyz="0" izz="0.000001"/>
    </inertial>
  </link>
  <link name="right_f3_0">
    <origin rpy="0 0 0" xyz="0 0 0"/>
    <inertial>
      <mass value="0.106"/>
      <!-- F1 -->
      <origin xyz="0 0 0"/>
      <!-- solid cylinder -->
      <inertia ixx="0.000011925" ixy="0" ixz="0" iyy="0.00011505" iyz="0" izz="0.00011505"/>
    </inertial>
    <!-- begin simple shape approximation of f0 -->
    <collision group="default">
      <origin rpy="0 0 0" xyz="0 0 0.003"/>
      <geometry>
        <cylinder length="0.023" radius="0.015"/>
      </geometry>
    </collision>
    <collision group="other">
      <origin rpy="1.57079632679 0 0" xyz="0.011 0 0.003"/>
      <geometry>
        <cylinder length="0.023" radius="0.01"/>
      </geometry>
    </collision>
    <!--   end simple shape approximation of f0 -->
    <!-- begin visual shape approximation of f0 -->
    <visual>
      <origin rpy="0 0 0" xyz="0 0 0.003"/>
      <geometry>
        <cylinder length="0.023" radius="0.015"/>
      </geometry>
      <material name="right_sandia_hand_skin_suntan">
        <color rgba="0.7 0.4 0.2 1.0"/>
      </material>
    </visual>
    <visual>
      <origin rpy="1.57079632679 0 0" xyz="0.011 0 0.003"/>
      <geometry>
        <cylinder length="0.023" radius="0.01"/>
      </geometry>
      <material name="right_sandia_hand_skin_suntan">
        <color rgba="0.7 0.4 0.2 1.0"/>
      </material>
    </visual>
    <!--   end visual shape approximation of f0 -->
    <!-- begin collision mesh of f0 ->
      <collision group="default">
        <origin xyz="0 0 0" rpy="0 0 0"/>
        <geometry>
          <mesh filename="package://sandia_hand_description/meshes/f0.stl"/>
        </geometry>
      </collision>
      <!-   end collision mesh of f0 -->
    <!-- begin visual mesh of f0 ->
      <visual>
        <origin xyz="0 0 0" rpy="0 0 0"/>
        <geometry>
          <mesh filename="package://sandia_hand_description/meshes/f0.stl"/>
        </geometry>
        <material name="${side}_sandia_hand_skin_suntan">
          <color rgba="0.7 0.4 0.2 1.0"/>
        </material>
      </visual>
      <!-   end visual mesh of f0 -->
  </link>
  <link name="right_f3_1">
    <origin rpy="0 0 0" xyz="0 0 0"/>
    <inertial>
      <mass value="0.033"/>
      <!-- F2 -->
      <origin xyz="0 0 0"/>
      <!-- solid cylinder -->
      <inertia ixx="0.00000165" ixy="0" ixz="0" iyy="0.00001316975" iyz="0" izz="0.00001316975"/>
    </inertial>
    <!-- begin simple shape approximation of f1 -->
    <collision group="default">
      <origin rpy="0 1.57079632679 0" xyz="0.024 0 0"/>
      <geometry>
        <cylinder length="0.067" radius="0.01"/>
      </geometry>
    </collision>
    <!--   end simple shape approximation of f1 -->
    <!-- begin visual shape approximation of f1 -->
    <visual>
      <origin rpy="0 1.57079632679 0" xyz="0.024 0 0"/>
      <geometry>
        <cylinder length="0.067" radius="0.01"/>
      </geometry>
      <material name="right_sandia_hand_skin">
        <color rgba="0.835 0.655 0.345 1.0"/>
      </material>
    </visual>
    <!--   end visual shape approximation of f1 -->
    <!-- begin collision mesh of f1 ->
      <collision group="default">
        <origin xyz="0 0 0" rpy="0 0 0"/>
        <geometry>
          <mesh filename="package://sandia_hand_description/meshes/f1.stl"/>
        </geometry>
      </collision>
      <!-   end collision mesh of f1 -->
    <!-- begin visual mesh of f1 ->
      <visual>
        <origin xyz="0 0 0" rpy="0 0 0"/>
        <geometry>
          <mesh filename="package://sandia_hand_description/meshes/f1.stl"/>
        </geometry>
        <material name="${side}_sandia_hand_skin">
          <color rgba="0.835 0.655 0.345 1.0"/>
        </material>
      </visual>
      <!-   end visual mesh of f1 -->
  </link>
  <link name="right_f3_1_accel">
    <origin rpy="0 0 0" xyz="0 0 0"/>
    <inertial>
      <mass value="0.01"/>
      <origin xyz="0 0 0"/>
      <inertia ixx="0.000001" ixy="0" ixz="0" iyy="0.000001" iyz="0" izz="0.000001"/>
    </inertial>
  </link>
  <link name="right_f3_2">
    <origin rpy="0 0 0" xyz="0 0 0"/>
    <inertial>
      <mass value="0.033"/>
      <!-- F3 -->
      <origin xyz="0 0 0"/>
      <!-- solid cylinder -->
      <inertia ixx="0.0000013365" ixy="0" ixz="0" iyy="0.000009603" iyz="0" izz="0.000009603"/>
    </inertial>
    <!-- begin simple shape approximation of f2 -->
    <collision group="default">
      <origin rpy="0 1.57079632679 0" xyz="0.024 0 0"/>
      <geometry>
        <cylinder length="0.057" radius="0.009"/>
      </geometry>
    </collision>
    <collision group="other">
      <origin rpy="0 0 0" xyz="0.052 0 0"/>
      <geometry>
        <sphere radius="0.009"/>
      </geometry>
    </collision>
    <!--   end simple shape approximation of f2 -->
    <!-- begin visual shape approximation of f2 -->
    <visual>
      <origin rpy="0 1.57079632679 0" xyz="0.024 0 0"/>
      <geometry>
        <cylinder length="0.057" radius="0.009"/>
      </geometry>
      <material name="right_sandia_hand_skin_suntan">
        <color rgba="0.8 0.6 0.3 1.0"/>
      </material>
    </visual>
    <visual>
      <origin rpy="0 0 0" xyz="0.052 0 0"/>
      <geometry>
        <sphere radius="0.009"/>
      </geometry>
      <material name="right_sandia_hand_skin_suntan">
        <color rgba="0.8 0.6 0.3 1.0"/>
      </material>
    </visual>
    <!-- begin collision mesh of f2    ->
      <collision group="default">
        <origin xyz="0 0 0" rpy="0 0 0"/>
        <geometry>
          <mesh filename="package://sandia_hand_description/meshes/f2.stl"/>
        </geometry>
      </collision>
      <!-   end collision mesh of f2 -->
    <!-- begin visual mesh of f2    ->
      <visual>
        <origin xyz="0 0 0" rpy="0 0 0"/>
        <geometry>
          <mesh filename="package://sandia_hand_description/meshes/f2.stl"/>
        </geometry>
        <material name="${side}_sandia_hand_skin_suntan">
          <color rgba="0.8 0.6 0.3 1.0"/>
        </material>
      </visual>
      <!-   end visual mesh of f2 -->
  </link>
  <link name="right_f3_2_accel">
    <origin rpy="0 0 0" xyz="0 0 0"/>
    <inertial>
      <mass value="0.01"/>
      <origin xyz="0 0 0"/>
      <inertia ixx="0.000001" ixy="0" ixz="0" iyy="0.000001" iyz="0" izz="0.000001"/>
    </inertial>
  </link>
  <joint name="right_f3_base" type="fixed">
    <parent link="right_palm"/>
    <child link="right_f3_base"/>
    <origin rpy="0 -1.57079632679 -2.3562" xyz="0.03995 -0.04383 0.014"/>
  </joint>
  <joint name="right_f3_j0" type="revolute">
    <axis xyz="0 0 1"/>
    <parent link="right_f3_base"/>
    <child link="right_f3_0"/>
    <limit effort="11" lower="-1.57079632679" upper="1.57079632679" velocity="-1"/>
    <safety_controller k_position="1000.0" k_velocity="1000.0" soft_lower_limit="-11.57079" soft_upper_limit="11.57079"/>
    <dynamics damping="1.0"/>
    <origin rpy="0 0 0" xyz="0 0 0"/>
  </joint>
  <joint name="right_f3_j1" type="revolute">
    <axis xyz="0 0 1"/>
    <parent link="right_f3_0"/>
    <child link="right_f3_1"/>
    <limit effort="28" lower="-1.57079632679" upper="1.57079632679" velocity="-1"/>
    <safety_controller k_position="1000.0" k_velocity="1000.0" soft_lower_limit="-11.57079" soft_upper_limit="11.57079"/>
    <dynamics damping="1.0"/>
    <origin rpy="1.57079632679 0 0" xyz="0.028 0 0"/>
  </joint>
  <joint name="right_f3_j2" type="revolute">
    <axis xyz="0 0 1"/>
    <parent link="right_f3_1"/>
    <child link="right_f3_2"/>
    <origin rpy="0 0 0" xyz="0.05 0 0"/>
    <safety_controller k_position="1000.0" k_velocity="1000.0" soft_lower_limit="-11.57079" soft_upper_limit="11.57079"/>
    <dynamics damping="1.0"/>
    <limit effort="28" lower="-1.57079632679" upper="1.57079632679" velocity="-1"/>
  </joint>
  <joint name="right_f3_fixed_accel" type="fixed">
    <parent link="right_f3_base"/>
    <child link="right_f3_fixed_accel"/>
    <origin rpy="0 0 0" xyz="-0.05 0 0"/>
  </joint>
  <joint name="right_f3_1_accel" type="fixed">
    <parent link="right_f3_1"/>
    <child link="right_f3_1_accel"/>
    <origin rpy="-1.57079632679 0 0" xyz="0.03 0 0"/>
  </joint>
  <joint name="right_f3_2_accel" type="fixed">
    <parent link="right_f3_2"/>
    <child link="right_f3_2_accel"/>
    <origin rpy="-1.57079632679 0 0" xyz="0.04 0 0"/>
  </joint>
  <transmission name="right_f3_j0" type="pr2_mechanism_model/SimpleTransmission">
    <joint name="right_f3_j0"/>
    <actuator name="right_f3_j0_motor"/>
    <mechanicalReduction>1</mechanicalReduction>
  </transmission>
  <transmission name="right_f3_j1" type="pr2_mechanism_model/SimpleTransmission">
    <joint name="right_f3_j1"/>
    <actuator name="right_f3_j1_motor"/>
    <mechanicalReduction>1</mechanicalReduction>
  </transmission>
  <transmission name="right_f3_j2" type="pr2_mechanism_model/SimpleTransmission">
    <joint name="right_f3_j2"/>
    <actuator name="right_f3_j2_motor"/>
    <mechanicalReduction>1</mechanicalReduction>
  </transmission>
  <gazebo reference="right_f3_base">
    <mu1>0.9</mu1>
    <mu2>0.9</mu2>
    <kp>1000000.0</kp>
    <kd>1.0</kd>
    <maxVel>0.1</maxVel>
    <minDepth>0.001</minDepth>
    <material>Gazebo/FlatBlack</material>
  </gazebo>
  <gazebo reference="right_f3_0">
    <mu1>0.9</mu1>
    <mu2>0.9</mu2>
    <kp>1000000.0</kp>
    <kd>1.0</kd>
    <maxVel>0.1</maxVel>
    <minDepth>0.003</minDepth>
    <maxContacts>1</maxContacts>
    <material>Gazebo/FlatBlack</material>
  </gazebo>
  <gazebo reference="right_f3_1">
    <mu1>0.9</mu1>
    <mu2>0.9</mu2>
    <kp>1000000.0</kp>
    <kd>1.0</kd>
    <maxVel>0.1</maxVel>
    <minDepth>0.003</minDepth>
    <maxContacts>1</maxContacts>
    <material>Gazebo/FlatBlack</material>
  </gazebo>
  <gazebo reference="right_f3_2">
    <mu1>0.9</mu1>
    <mu2>0.9</mu2>
    <kp>1000000.0</kp>
    <kd>1.0</kd>
    <maxVel>0.1</maxVel>
    <minDepth>0.003</minDepth>
    <maxContacts>1</maxContacts>
    <material>Gazebo/FlatBlack</material>
  </gazebo>
  <gazebo reference="right_f3_j0">
    <cfmDamping>1</cfmDamping>
  </gazebo>
  <gazebo reference="right_f3_j1">
    <cfmDamping>1</cfmDamping>
  </gazebo>
  <gazebo reference="right_f3_j2">
    <cfmDamping>1</cfmDamping>
  </gazebo>
  <gazebo reference="right_palm">
    <mu1>0.9</mu1>
    <mu2>0.9</mu2>
    <material>Gazebo/FlatBlack</material>
  </gazebo>
  <joint name="right_palm_left_camera_frame_joint" type="fixed">
    <origin rpy="0.6708 -1.57079632679 3.14159265359" xyz="0.0683774130138 0.0138342911048 0.025"/>
    <parent link="right_palm"/>
    <child link="right_palm_left_camera_frame"/>
  </joint>
  <link name="right_palm_left_camera_frame">
    <inertial>
      <mass value="0.01"/>
      <origin xyz="0 0 0"/>
      <inertia ixx="0.0001" ixy="0.0" ixz="0.0" iyy="0.0001" iyz="0.0" izz="0.0001"/>
    </inertial>
    <visual group="default">
      <origin rpy="0 0 0" xyz="0 0 0"/>
      <geometry>
        <box size="0.003 0.010 0.007"/>
      </geometry>
    </visual>
  </link>
  <joint name="right_palm_left_camera_optical_frame_joint" type="fixed">
    <origin rpy="-1.57079632679 0.0 -1.57079632679" xyz="0 0 0"/>
    <parent link="right_palm_left_camera_frame"/>
    <child link="right_palm_left_camera_optical_frame"/>
  </joint>
  <link name="right_palm_left_camera_optical_frame"/>
  <gazebo reference="right_palm_left_camera_frame">
    <sensor name="right_palm_stereo_camera" type="multicamera">
      <update_rate>30.0</update_rate>
      <camera name="left">
        <horizontal_fov>1.25663706144</horizontal_fov>
        <image>
          <width>752</width>
          <height>480</height>
          <format>L8</format>
        </image>
        <clip>
          <near>0.02</near>
          <far>100</far>
        </clip>
        <noise>
          <type>gaussian</type>
          <mean>0.0</mean>
          <stddev>0.007</stddev>
        </noise>
      </camera>
      <camera name="right">
        <pose>0 -0.04 0  0 0 0</pose>
        <horizontal_fov>1.25663706144</horizontal_fov>
        <image>
          <width>752</width>
          <height>480</height>
          <format>L8</format>
        </image>
        <clip>
          <near>0.02</near>
          <far>100</far>
        </clip>
        <noise>
          <type>gaussian</type>
          <mean>0.0</mean>
          <stddev>0.007</stddev>
        </noise>
      </camera>
      <plugin filename="libgazebo_ros_multicamera.so" name="stereo_camera_controller">
        <alwaysOn>true</alwaysOn>
        <updateRate>0.0</updateRate>
        <cameraName>sandia_hands/r_hand/camera</cameraName>
        <imageTopicName>image_raw</imageTopicName>
        <cameraInfoTopicName>camera_info</cameraInfoTopicName>
        <frameName>right_palm_left_camera_optical_frame</frameName>
        <hackBaseline>0.04</hackBaseline>
        <distortionK1>0.0</distortionK1>
        <distortionK2>0.0</distortionK2>
        <distortionK3>0.0</distortionK3>
        <distortionT1>0.0</distortionT1>
        <distortionT2>0.0</distortionT2>
      </plugin>
    </sensor>
  </gazebo>
  <joint name="right_palm_right_camera_frame_joint" type="fixed">
    <origin rpy="0.6708 -1.57079632679 3.14159265359" xyz="0.0435128991906 0.0451672761576 0.025"/>
    <parent link="right_palm"/>
    <child link="right_palm_right_camera_frame"/>
  </joint>
  <link name="right_palm_right_camera_frame">
    <inertial>
      <mass value="0.01"/>
      <origin xyz="0 0 0"/>
      <inertia ixx="0.0001" ixy="0.0" ixz="0.0" iyy="0.0001" iyz="0.0" izz="0.0001"/>
    </inertial>
    <visual group="default">
      <origin rpy="0 0 0" xyz="0 0 0"/>
      <geometry>
        <box size="0.003 0.010 0.007"/>
      </geometry>
    </visual>
  </link>
  <joint name="right_palm_right_camera_optical_frame_joint" type="fixed">
    <origin rpy="-1.57079632679 0.0 -1.57079632679" xyz="0 0 0"/>
    <parent link="right_palm_right_camera_frame"/>
    <child link="right_palm_right_camera_optical_frame"/>
  </joint>
  <link name="right_palm_right_camera_optical_frame"/>
  <gazebo>
    <plugin filename="libContactModelPlugin.so" name="sandia_contact_plugin">
      <contact>
        <collision>r_hand::r_hand_collision_right_palm</collision>
        <collision>r_hand::r_hand_collision_right_palm_1</collision>
        <collision>r_hand::r_hand_collision_right_palm_3</collision>
        <collision>r_hand::r_hand_collision_right_palm_4</collision>
        <collision>r_hand::r_hand_collision_right_palm_5</collision>
        <collision>right_f0_1::right_f0_1_collision</collision>
        <collision>right_f0_2::right_f0_2_collision</collision>
        <collision>right_f1_1::right_f1_1_collision</collision>
        <collision>right_f1_2::right_f1_2_collision</collision>
        <collision>right_f2_1::right_f2_1_collision</collision>
        <collision>right_f2_2::right_f2_2_collision</collision>
        <collision>right_f3_1::right_f3_1_collision</collision>
        <collision>right_f3_2::right_f3_2_collision</collision>
      </contact>
    </plugin>
  </gazebo>
  <gazebo reference="r_hand">
    <sensor name="imu_sensor" type="imu">
      <always_on>1</always_on>
      <update_rate>1000.0</update_rate>
      <imu>
        <noise>
          <type>gaussian</type>
          <rate>
            <mean>0.0</mean>
            <stddev>2e-4</stddev>
            <bias_mean>0.0000075</bias_mean>
            <bias_stddev>0.0000008</bias_stddev>
          </rate>
          <accel>
            <mean>0.0</mean>
            <stddev>1.7e-2</stddev>
            <bias_mean>0.1</bias_mean>
            <bias_stddev>0.001</bias_stddev>
          </accel>
        </noise>
      </imu>
    </sensor>
  </gazebo>
  <link name="left_palm">
    <origin rpy="0 0 0" xyz="0 0 0"/>
    <inertial>
      <mass value="1.303"/>
      <origin xyz="0 0 0"/>
      <!-- solid sphere with 5cm radius -->
      <inertia ixx="0.001303" ixy="0" ixz="0" iyy="0.001303" iyz="0" izz="0.001303"/>
    </inertial>
    <!-- begin simple shape approximation of palm -->
    <collision group="default">
      <origin rpy="0 1.57079632679 0.9" xyz="0.069 -0.016 0.038"/>
      <geometry>
        <cylinder length="0.100" radius="0.013"/>
      </geometry>
    </collision>
    <collision group="other">
      <origin rpy="0.41 0 0.9" xyz="0.064 -0.008 0.021"/>
      <geometry>
        <box size="0.09 .035 .05"/>
      </geometry>
    </collision>
    <collision group="other">
      <origin rpy="0 1.57079632679 0" xyz="0.02 0 -0.005"/>
      <geometry>
        <cylinder length="0.05" radius="0.038"/>
      </geometry>
    </collision>
    <collision group="other">
      <origin rpy="0 0 -0.37" xyz="0.11 0.01 -0.005"/>
      <geometry>
        <box size="0.09 .03 .06"/>
      </geometry>
    </collision>
    <collision group="other">
      <origin rpy="0 0 -0.37" xyz="0.09 -0.02 -0.005"/>
      <geometry>
        <box size="0.09 .03 .06"/>
      </geometry>
    </collision>
    <collision group="other">
      <origin rpy="0 0 -0.37" xyz="0.060 -0.05 -0.005"/>
      <geometry>
        <box size="0.09 .03 .06"/>
      </geometry>
    </collision>
    <collision group="other">
      <origin rpy="0 0 -0.79" xyz="0.044 0.04 -0.005"/>
      <geometry>
        <box size="0.09 .03 .06"/>
      </geometry>
    </collision>
    <!--   end simple shape approximation of palm -->
    <!-- begin visual shape approximation of palm -->
    <visual>
      <origin rpy="0 1.57079632679 0.9" xyz="0.069 -0.016 0.038"/>
      <geometry>
        <cylinder length="0.100" radius="0.013"/>
      </geometry>
      <material name="left_sandia_hand_skin">
        <color rgba="0.835 0.655 0.345 1.0"/>
      </material>
    </visual>
    <visual>
      <origin rpy="0.41 0 0.9" xyz="0.064 -0.008 0.021"/>
      <geometry>
        <box size="0.09 .035 .05"/>
      </geometry>
      <material name="left_sandia_hand_skin">
        <color rgba="0.835 0.655 0.345 1.0"/>
      </material>
    </visual>
    <visual>
      <origin rpy="0 1.57079632679 0" xyz="0.02 0 -0.005"/>
      <geometry>
        <cylinder length="0.05" radius="0.038"/>
      </geometry>
      <material name="left_sandia_hand_skin">
        <color rgba="0.835 0.655 0.345 1.0"/>
      </material>
    </visual>
    <visual>
      <origin rpy="0 0 -0.37" xyz="0.11 0.01 -0.005"/>
      <geometry>
        <box size="0.09 .03 .06"/>
      </geometry>
      <material name="left_sandia_hand_skin">
        <color rgba="0.835 0.655 0.345 1.0"/>
      </material>
    </visual>
    <visual>
      <origin rpy="0 0 -0.37" xyz="0.09 -0.02 -0.005"/>
      <geometry>
        <box size="0.09 .03 .06"/>
      </geometry>
      <material name="left_sandia_hand_skin">
        <color rgba="0.835 0.655 0.345 1.0"/>
      </material>
    </visual>
    <visual>
      <origin rpy="0 0 -0.37" xyz="0.060 -0.05 -0.005"/>
      <geometry>
        <box size="0.09 .03 .06"/>
      </geometry>
      <material name="left_sandia_hand_skin">
        <color rgba="0.835 0.655 0.345 1.0"/>
      </material>
    </visual>
    <visual>
      <origin rpy="0 0 -0.79" xyz="0.044 0.04 -0.005"/>
      <geometry>
        <box size="0.09 .03 .06"/>
      </geometry>
      <material name="left_sandia_hand_skin">
        <color rgba="0.835 0.655 0.345 1.0"/>
      </material>
    </visual>
    <!--   end visual shape approximation of palm -->
    <!-- begin collision mesh of f2 ->
      <collision group="default">
        <origin xyz="0 0 0" rpy="0 0 0"/>
        <geometry>
          <mesh filename="package://sandia_hand_description/meshes/palm.stl"/>
        </geometry>
      </collision>
      <!-   end collision mesh of f2 -->
    <!-- begin visual mesh of f2    ->
      <visual>
        <origin xyz="0 0 0" rpy="0 0 0"/>
        <geometry>
          <mesh filename="package://sandia_hand_description/meshes/palm.stl"/>
        </geometry>
        <material name="${side}_sandia_hand_skin">
          <color rgba="0.835 0.655 0.345 1.0"/>
        </material>
      </visual>
      <!-   end visual mesh of f2 -->
  </link>
  <joint name="left_sandia_hand_joint" type="fixed">
    <parent link="l_hand"/>
    <child link="left_palm"/>
    <origin rpy="0 -1.57079 0" xyz="0 -0.2 0.5"/>
  </joint>
  <link name="left_f0_base">
    <origin rpy="0 0 0" xyz="0 0 0"/>
    <inertial>
      <!-- total mass is 2.303 kg, palm is about 1.303 kg, distribute the rest into _base -->
      <mass value="0.250"/>
      <!-- (2.303 - 1.303) / 4 -->
      <origin xyz="0 0 0"/>
      <!-- model as sphere with radius of 1cm -->
      <inertia ixx="0.00001" ixy="0" ixz="0" iyy="0.00001" iyz="0" izz="0.00001"/>
    </inertial>
  </link>
  <link name="left_f0_fixed_accel">
    <origin rpy="0 0 0" xyz="0 0 0"/>
    <inertial>
      <mass value="0.01"/>
      <origin xyz="0 0 0"/>
      <inertia ixx="0.000001" ixy="0" ixz="0" iyy="0.000001" iyz="0" izz="0.000001"/>
    </inertial>
  </link>
  <link name="left_f0_0">
    <origin rpy="0 0 0" xyz="0 0 0"/>
    <inertial>
      <mass value="0.106"/>
      <!-- F1 -->
      <origin xyz="0 0 0"/>
      <!-- solid cylinder -->
      <inertia ixx="0.000011925" ixy="0" ixz="0" iyy="0.00011505" iyz="0" izz="0.00011505"/>
    </inertial>
    <!-- begin simple shape approximation of f0 -->
    <collision group="default">
      <origin rpy="0 0 0" xyz="0 0 0.003"/>
      <geometry>
        <cylinder length="0.023" radius="0.015"/>
      </geometry>
    </collision>
    <collision group="other">
      <origin rpy="1.57079632679 0 0" xyz="0.011 0 0.003"/>
      <geometry>
        <cylinder length="0.023" radius="0.01"/>
      </geometry>
    </collision>
    <!--   end simple shape approximation of f0 -->
    <!-- begin visual shape approximation of f0 -->
    <visual>
      <origin rpy="0 0 0" xyz="0 0 0.003"/>
      <geometry>
        <cylinder length="0.023" radius="0.015"/>
      </geometry>
      <material name="left_sandia_hand_skin_suntan">
        <color rgba="0.7 0.4 0.2 1.0"/>
      </material>
    </visual>
    <visual>
      <origin rpy="1.57079632679 0 0" xyz="0.011 0 0.003"/>
      <geometry>
        <cylinder length="0.023" radius="0.01"/>
      </geometry>
      <material name="left_sandia_hand_skin_suntan">
        <color rgba="0.7 0.4 0.2 1.0"/>
      </material>
    </visual>
    <!--   end visual shape approximation of f0 -->
    <!-- begin collision mesh of f0 ->
      <collision group="default">
        <origin xyz="0 0 0" rpy="0 0 0"/>
        <geometry>
          <mesh filename="package://sandia_hand_description/meshes/f0.stl"/>
        </geometry>
      </collision>
      <!-   end collision mesh of f0 -->
    <!-- begin visual mesh of f0 ->
      <visual>
        <origin xyz="0 0 0" rpy="0 0 0"/>
        <geometry>
          <mesh filename="package://sandia_hand_description/meshes/f0.stl"/>
        </geometry>
        <material name="${side}_sandia_hand_skin_suntan">
          <color rgba="0.7 0.4 0.2 1.0"/>
        </material>
      </visual>
      <!-   end visual mesh of f0 -->
  </link>
  <link name="left_f0_1">
    <origin rpy="0 0 0" xyz="0 0 0"/>
    <inertial>
      <mass value="0.033"/>
      <!-- F2 -->
      <origin xyz="0 0 0"/>
      <!-- solid cylinder -->
      <inertia ixx="0.00000165" ixy="0" ixz="0" iyy="0.00001316975" iyz="0" izz="0.00001316975"/>
    </inertial>
    <!-- begin simple shape approximation of f1 -->
    <collision group="default">
      <origin rpy="0 1.57079632679 0" xyz="0.024 0 0"/>
      <geometry>
        <cylinder length="0.067" radius="0.01"/>
      </geometry>
    </collision>
    <!--   end simple shape approximation of f1 -->
    <!-- begin visual shape approximation of f1 -->
    <visual>
      <origin rpy="0 1.57079632679 0" xyz="0.024 0 0"/>
      <geometry>
        <cylinder length="0.067" radius="0.01"/>
      </geometry>
      <material name="left_sandia_hand_skin">
        <color rgba="0.835 0.655 0.345 1.0"/>
      </material>
    </visual>
    <!--   end visual shape approximation of f1 -->
    <!-- begin collision mesh of f1 ->
      <collision group="default">
        <origin xyz="0 0 0" rpy="0 0 0"/>
        <geometry>
          <mesh filename="package://sandia_hand_description/meshes/f1.stl"/>
        </geometry>
      </collision>
      <!-   end collision mesh of f1 -->
    <!-- begin visual mesh of f1 ->
      <visual>
        <origin xyz="0 0 0" rpy="0 0 0"/>
        <geometry>
          <mesh filename="package://sandia_hand_description/meshes/f1.stl"/>
        </geometry>
        <material name="${side}_sandia_hand_skin">
          <color rgba="0.835 0.655 0.345 1.0"/>
        </material>
      </visual>
      <!-   end visual mesh of f1 -->
  </link>
  <link name="left_f0_1_accel">
    <origin rpy="0 0 0" xyz="0 0 0"/>
    <inertial>
      <mass value="0.01"/>
      <origin xyz="0 0 0"/>
      <inertia ixx="0.000001" ixy="0" ixz="0" iyy="0.000001" iyz="0" izz="0.000001"/>
    </inertial>
  </link>
  <link name="left_f0_2">
    <origin rpy="0 0 0" xyz="0 0 0"/>
    <inertial>
      <mass value="0.033"/>
      <!-- F3 -->
      <origin xyz="0 0 0"/>
      <!-- solid cylinder -->
      <inertia ixx="0.0000013365" ixy="0" ixz="0" iyy="0.000009603" iyz="0" izz="0.000009603"/>
    </inertial>
    <!-- begin simple shape approximation of f2 -->
    <collision group="default">
      <origin rpy="0 1.57079632679 0" xyz="0.024 0 0"/>
      <geometry>
        <cylinder length="0.057" radius="0.009"/>
      </geometry>
    </collision>
    <collision group="other">
      <origin rpy="0 0 0" xyz="0.052 0 0"/>
      <geometry>
        <sphere radius="0.009"/>
      </geometry>
    </collision>
    <!--   end simple shape approximation of f2 -->
    <!-- begin visual shape approximation of f2 -->
    <visual>
      <origin rpy="0 1.57079632679 0" xyz="0.024 0 0"/>
      <geometry>
        <cylinder length="0.057" radius="0.009"/>
      </geometry>
      <material name="left_sandia_hand_skin_suntan">
        <color rgba="0.8 0.6 0.3 1.0"/>
      </material>
    </visual>
    <visual>
      <origin rpy="0 0 0" xyz="0.052 0 0"/>
      <geometry>
        <sphere radius="0.009"/>
      </geometry>
      <material name="left_sandia_hand_skin_suntan">
        <color rgba="0.8 0.6 0.3 1.0"/>
      </material>
    </visual>
    <!-- begin collision mesh of f2    ->
      <collision group="default">
        <origin xyz="0 0 0" rpy="0 0 0"/>
        <geometry>
          <mesh filename="package://sandia_hand_description/meshes/f2.stl"/>
        </geometry>
      </collision>
      <!-   end collision mesh of f2 -->
    <!-- begin visual mesh of f2    ->
      <visual>
        <origin xyz="0 0 0" rpy="0 0 0"/>
        <geometry>
          <mesh filename="package://sandia_hand_description/meshes/f2.stl"/>
        </geometry>
        <material name="${side}_sandia_hand_skin_suntan">
          <color rgba="0.8 0.6 0.3 1.0"/>
        </material>
      </visual>
      <!-   end visual mesh of f2 -->
  </link>
  <link name="left_f0_2_accel">
    <origin rpy="0 0 0" xyz="0 0 0"/>
    <inertial>
      <mass value="0.01"/>
      <origin xyz="0 0 0"/>
      <inertia ixx="0.000001" ixy="0" ixz="0" iyy="0.000001" iyz="0" izz="0.000001"/>
    </inertial>
  </link>
  <joint name="left_f0_base" type="fixed">
    <parent link="left_palm"/>
    <child link="left_f0_base"/>
    <origin rpy="0 0 -0.3" xyz="0.14 0.0 0"/>
  </joint>
  <joint name="left_f0_j0" type="revolute">
    <axis xyz="0 0 -1"/>
    <parent link="left_f0_base"/>
    <child link="left_f0_0"/>
    <limit effort="11" lower="-1.57079632679" upper="1.57079632679" velocity="-1"/>
    <safety_controller k_position="1000.0" k_velocity="1000.0" soft_lower_limit="-11.57079" soft_upper_limit="11.57079"/>
    <dynamics damping="1.0"/>
    <origin rpy="0 0 0" xyz="0 0 0"/>
  </joint>
  <joint name="left_f0_j1" type="revolute">
    <axis xyz="0 0 1"/>
    <parent link="left_f0_0"/>
    <child link="left_f0_1"/>
    <limit effort="28" lower="-1.57079632679" upper="1.57079632679" velocity="-1"/>
    <safety_controller k_position="1000.0" k_velocity="1000.0" soft_lower_limit="-11.57079" soft_upper_limit="11.57079"/>
    <dynamics damping="1.0"/>
    <origin rpy="1.57079632679 0 0" xyz="0.028 0 0"/>
  </joint>
  <joint name="left_f0_j2" type="revolute">
    <axis xyz="0 0 1"/>
    <parent link="left_f0_1"/>
    <child link="left_f0_2"/>
    <origin rpy="0 0 0" xyz="0.05 0 0"/>
    <safety_controller k_position="1000.0" k_velocity="1000.0" soft_lower_limit="-11.57079" soft_upper_limit="11.57079"/>
    <dynamics damping="1.0"/>
    <limit effort="28" lower="-1.57079632679" upper="1.57079632679" velocity="-1"/>
  </joint>
  <joint name="left_f0_fixed_accel" type="fixed">
    <parent link="left_f0_base"/>
    <child link="left_f0_fixed_accel"/>
    <origin rpy="0 0 0" xyz="-0.05 0 0"/>
  </joint>
  <joint name="left_f0_1_accel" type="fixed">
    <parent link="left_f0_1"/>
    <child link="left_f0_1_accel"/>
    <origin rpy="-1.57079632679 0 0" xyz="0.03 0 0"/>
  </joint>
  <joint name="left_f0_2_accel" type="fixed">
    <parent link="left_f0_2"/>
    <child link="left_f0_2_accel"/>
    <origin rpy="-1.57079632679 0 0" xyz="0.04 0 0"/>
  </joint>
  <transmission name="left_f0_j0" type="pr2_mechanism_model/SimpleTransmission">
    <joint name="left_f0_j0"/>
    <actuator name="left_f0_j0_motor"/>
    <mechanicalReduction>1</mechanicalReduction>
  </transmission>
  <transmission name="left_f0_j1" type="pr2_mechanism_model/SimpleTransmission">
    <joint name="left_f0_j1"/>
    <actuator name="left_f0_j1_motor"/>
    <mechanicalReduction>1</mechanicalReduction>
  </transmission>
  <transmission name="left_f0_j2" type="pr2_mechanism_model/SimpleTransmission">
    <joint name="left_f0_j2"/>
    <actuator name="left_f0_j2_motor"/>
    <mechanicalReduction>1</mechanicalReduction>
  </transmission>
  <gazebo reference="left_f0_base">
    <mu1>0.9</mu1>
    <mu2>0.9</mu2>
    <kp>1000000.0</kp>
    <kd>1.0</kd>
    <maxVel>0.1</maxVel>
    <minDepth>0.001</minDepth>
    <material>Gazebo/FlatBlack</material>
  </gazebo>
  <gazebo reference="left_f0_0">
    <mu1>0.9</mu1>
    <mu2>0.9</mu2>
    <kp>1000000.0</kp>
    <kd>1.0</kd>
    <maxVel>0.1</maxVel>
    <minDepth>0.003</minDepth>
    <maxContacts>1</maxContacts>
    <material>Gazebo/FlatBlack</material>
  </gazebo>
  <gazebo reference="left_f0_1">
    <mu1>0.9</mu1>
    <mu2>0.9</mu2>
    <kp>1000000.0</kp>
    <kd>1.0</kd>
    <maxVel>0.1</maxVel>
    <minDepth>0.003</minDepth>
    <maxContacts>1</maxContacts>
    <material>Gazebo/FlatBlack</material>
  </gazebo>
  <gazebo reference="left_f0_2">
    <mu1>0.9</mu1>
    <mu2>0.9</mu2>
    <kp>1000000.0</kp>
    <kd>1.0</kd>
    <maxVel>0.1</maxVel>
    <minDepth>0.003</minDepth>
    <maxContacts>1</maxContacts>
    <material>Gazebo/FlatBlack</material>
  </gazebo>
  <gazebo reference="left_f0_j0">
    <cfmDamping>1</cfmDamping>
  </gazebo>
  <gazebo reference="left_f0_j1">
    <cfmDamping>1</cfmDamping>
  </gazebo>
  <gazebo reference="left_f0_j2">
    <cfmDamping>1</cfmDamping>
  </gazebo>
  <link name="left_f1_base">
    <origin rpy="0 0 0" xyz="0 0 0"/>
    <inertial>
      <!-- total mass is 2.303 kg, palm is about 1.303 kg, distribute the rest into _base -->
      <mass value="0.250"/>
      <!-- (2.303 - 1.303) / 4 -->
      <origin xyz="0 0 0"/>
      <!-- model as sphere with radius of 1cm -->
      <inertia ixx="0.00001" ixy="0" ixz="0" iyy="0.00001" iyz="0" izz="0.00001"/>
    </inertial>
  </link>
  <link name="left_f1_fixed_accel">
    <origin rpy="0 0 0" xyz="0 0 0"/>
    <inertial>
      <mass value="0.01"/>
      <origin xyz="0 0 0"/>
      <inertia ixx="0.000001" ixy="0" ixz="0" iyy="0.000001" iyz="0" izz="0.000001"/>
    </inertial>
  </link>
  <link name="left_f1_0">
    <origin rpy="0 0 0" xyz="0 0 0"/>
    <inertial>
      <mass value="0.106"/>
      <!-- F1 -->
      <origin xyz="0 0 0"/>
      <!-- solid cylinder -->
      <inertia ixx="0.000011925" ixy="0" ixz="0" iyy="0.00011505" iyz="0" izz="0.00011505"/>
    </inertial>
    <!-- begin simple shape approximation of f0 -->
    <collision group="default">
      <origin rpy="0 0 0" xyz="0 0 0.003"/>
      <geometry>
        <cylinder length="0.023" radius="0.015"/>
      </geometry>
    </collision>
    <collision group="other">
      <origin rpy="1.57079632679 0 0" xyz="0.011 0 0.003"/>
      <geometry>
        <cylinder length="0.023" radius="0.01"/>
      </geometry>
    </collision>
    <!--   end simple shape approximation of f0 -->
    <!-- begin visual shape approximation of f0 -->
    <visual>
      <origin rpy="0 0 0" xyz="0 0 0.003"/>
      <geometry>
        <cylinder length="0.023" radius="0.015"/>
      </geometry>
      <material name="left_sandia_hand_skin_suntan">
        <color rgba="0.7 0.4 0.2 1.0"/>
      </material>
    </visual>
    <visual>
      <origin rpy="1.57079632679 0 0" xyz="0.011 0 0.003"/>
      <geometry>
        <cylinder length="0.023" radius="0.01"/>
      </geometry>
      <material name="left_sandia_hand_skin_suntan">
        <color rgba="0.7 0.4 0.2 1.0"/>
      </material>
    </visual>
    <!--   end visual shape approximation of f0 -->
    <!-- begin collision mesh of f0 ->
      <collision group="default">
        <origin xyz="0 0 0" rpy="0 0 0"/>
        <geometry>
          <mesh filename="package://sandia_hand_description/meshes/f0.stl"/>
        </geometry>
      </collision>
      <!-   end collision mesh of f0 -->
    <!-- begin visual mesh of f0 ->
      <visual>
        <origin xyz="0 0 0" rpy="0 0 0"/>
        <geometry>
          <mesh filename="package://sandia_hand_description/meshes/f0.stl"/>
        </geometry>
        <material name="${side}_sandia_hand_skin_suntan">
          <color rgba="0.7 0.4 0.2 1.0"/>
        </material>
      </visual>
      <!-   end visual mesh of f0 -->
  </link>
  <link name="left_f1_1">
    <origin rpy="0 0 0" xyz="0 0 0"/>
    <inertial>
      <mass value="0.033"/>
      <!-- F2 -->
      <origin xyz="0 0 0"/>
      <!-- solid cylinder -->
      <inertia ixx="0.00000165" ixy="0" ixz="0" iyy="0.00001316975" iyz="0" izz="0.00001316975"/>
    </inertial>
    <!-- begin simple shape approximation of f1 -->
    <collision group="default">
      <origin rpy="0 1.57079632679 0" xyz="0.024 0 0"/>
      <geometry>
        <cylinder length="0.067" radius="0.01"/>
      </geometry>
    </collision>
    <!--   end simple shape approximation of f1 -->
    <!-- begin visual shape approximation of f1 -->
    <visual>
      <origin rpy="0 1.57079632679 0" xyz="0.024 0 0"/>
      <geometry>
        <cylinder length="0.067" radius="0.01"/>
      </geometry>
      <material name="left_sandia_hand_skin">
        <color rgba="0.835 0.655 0.345 1.0"/>
      </material>
    </visual>
    <!--   end visual shape approximation of f1 -->
    <!-- begin collision mesh of f1 ->
      <collision group="default">
        <origin xyz="0 0 0" rpy="0 0 0"/>
        <geometry>
          <mesh filename="package://sandia_hand_description/meshes/f1.stl"/>
        </geometry>
      </collision>
      <!-   end collision mesh of f1 -->
    <!-- begin visual mesh of f1 ->
      <visual>
        <origin xyz="0 0 0" rpy="0 0 0"/>
        <geometry>
          <mesh filename="package://sandia_hand_description/meshes/f1.stl"/>
        </geometry>
        <material name="${side}_sandia_hand_skin">
          <color rgba="0.835 0.655 0.345 1.0"/>
        </material>
      </visual>
      <!-   end visual mesh of f1 -->
  </link>
  <link name="left_f1_1_accel">
    <origin rpy="0 0 0" xyz="0 0 0"/>
    <inertial>
      <mass value="0.01"/>
      <origin xyz="0 0 0"/>
      <inertia ixx="0.000001" ixy="0" ixz="0" iyy="0.000001" iyz="0" izz="0.000001"/>
    </inertial>
  </link>
  <link name="left_f1_2">
    <origin rpy="0 0 0" xyz="0 0 0"/>
    <inertial>
      <mass value="0.033"/>
      <!-- F3 -->
      <origin xyz="0 0 0"/>
      <!-- solid cylinder -->
      <inertia ixx="0.0000013365" ixy="0" ixz="0" iyy="0.000009603" iyz="0" izz="0.000009603"/>
    </inertial>
    <!-- begin simple shape approximation of f2 -->
    <collision group="default">
      <origin rpy="0 1.57079632679 0" xyz="0.024 0 0"/>
      <geometry>
        <cylinder length="0.057" radius="0.009"/>
      </geometry>
    </collision>
    <collision group="other">
      <origin rpy="0 0 0" xyz="0.052 0 0"/>
      <geometry>
        <sphere radius="0.009"/>
      </geometry>
    </collision>
    <!--   end simple shape approximation of f2 -->
    <!-- begin visual shape approximation of f2 -->
    <visual>
      <origin rpy="0 1.57079632679 0" xyz="0.024 0 0"/>
      <geometry>
        <cylinder length="0.057" radius="0.009"/>
      </geometry>
      <material name="left_sandia_hand_skin_suntan">
        <color rgba="0.8 0.6 0.3 1.0"/>
      </material>
    </visual>
    <visual>
      <origin rpy="0 0 0" xyz="0.052 0 0"/>
      <geometry>
        <sphere radius="0.009"/>
      </geometry>
      <material name="left_sandia_hand_skin_suntan">
        <color rgba="0.8 0.6 0.3 1.0"/>
      </material>
    </visual>
    <!-- begin collision mesh of f2    ->
      <collision group="default">
        <origin xyz="0 0 0" rpy="0 0 0"/>
        <geometry>
          <mesh filename="package://sandia_hand_description/meshes/f2.stl"/>
        </geometry>
      </collision>
      <!-   end collision mesh of f2 -->
    <!-- begin visual mesh of f2    ->
      <visual>
        <origin xyz="0 0 0" rpy="0 0 0"/>
        <geometry>
          <mesh filename="package://sandia_hand_description/meshes/f2.stl"/>
        </geometry>
        <material name="${side}_sandia_hand_skin_suntan">
          <color rgba="0.8 0.6 0.3 1.0"/>
        </material>
      </visual>
      <!-   end visual mesh of f2 -->
  </link>
  <link name="left_f1_2_accel">
    <origin rpy="0 0 0" xyz="0 0 0"/>
    <inertial>
      <mass value="0.01"/>
      <origin xyz="0 0 0"/>
      <inertia ixx="0.000001" ixy="0" ixz="0" iyy="0.000001" iyz="0" izz="0.000001"/>
    </inertial>
  </link>
  <joint name="left_f1_base" type="fixed">
    <parent link="left_palm"/>
    <child link="left_f1_base"/>
    <origin rpy="0 0 -0.3" xyz="0.115 -0.03122 0"/>
  </joint>
  <joint name="left_f1_j0" type="revolute">
    <axis xyz="0 0 -1"/>
    <parent link="left_f1_base"/>
    <child link="left_f1_0"/>
    <limit effort="11" lower="-1.57079632679" upper="1.57079632679" velocity="-1"/>
    <safety_controller k_position="1000.0" k_velocity="1000.0" soft_lower_limit="-11.57079" soft_upper_limit="11.57079"/>
    <dynamics damping="1.0"/>
    <origin rpy="0 0 0" xyz="0 0 0"/>
  </joint>
  <joint name="left_f1_j1" type="revolute">
    <axis xyz="0 0 1"/>
    <parent link="left_f1_0"/>
    <child link="left_f1_1"/>
    <limit effort="28" lower="-1.57079632679" upper="1.57079632679" velocity="-1"/>
    <safety_controller k_position="1000.0" k_velocity="1000.0" soft_lower_limit="-11.57079" soft_upper_limit="11.57079"/>
    <dynamics damping="1.0"/>
    <origin rpy="1.57079632679 0 0" xyz="0.028 0 0"/>
  </joint>
  <joint name="left_f1_j2" type="revolute">
    <axis xyz="0 0 1"/>
    <parent link="left_f1_1"/>
    <child link="left_f1_2"/>
    <origin rpy="0 0 0" xyz="0.05 0 0"/>
    <safety_controller k_position="1000.0" k_velocity="1000.0" soft_lower_limit="-11.57079" soft_upper_limit="11.57079"/>
    <dynamics damping="1.0"/>
    <limit effort="28" lower="-1.57079632679" upper="1.57079632679" velocity="-1"/>
  </joint>
  <joint name="left_f1_fixed_accel" type="fixed">
    <parent link="left_f1_base"/>
    <child link="left_f1_fixed_accel"/>
    <origin rpy="0 0 0" xyz="-0.05 0 0"/>
  </joint>
  <joint name="left_f1_1_accel" type="fixed">
    <parent link="left_f1_1"/>
    <child link="left_f1_1_accel"/>
    <origin rpy="-1.57079632679 0 0" xyz="0.03 0 0"/>
  </joint>
  <joint name="left_f1_2_accel" type="fixed">
    <parent link="left_f1_2"/>
    <child link="left_f1_2_accel"/>
    <origin rpy="-1.57079632679 0 0" xyz="0.04 0 0"/>
  </joint>
  <transmission name="left_f1_j0" type="pr2_mechanism_model/SimpleTransmission">
    <joint name="left_f1_j0"/>
    <actuator name="left_f1_j0_motor"/>
    <mechanicalReduction>1</mechanicalReduction>
  </transmission>
  <transmission name="left_f1_j1" type="pr2_mechanism_model/SimpleTransmission">
    <joint name="left_f1_j1"/>
    <actuator name="left_f1_j1_motor"/>
    <mechanicalReduction>1</mechanicalReduction>
  </transmission>
  <transmission name="left_f1_j2" type="pr2_mechanism_model/SimpleTransmission">
    <joint name="left_f1_j2"/>
    <actuator name="left_f1_j2_motor"/>
    <mechanicalReduction>1</mechanicalReduction>
  </transmission>
  <gazebo reference="left_f1_base">
    <mu1>0.9</mu1>
    <mu2>0.9</mu2>
    <kp>1000000.0</kp>
    <kd>1.0</kd>
    <maxVel>0.1</maxVel>
    <minDepth>0.001</minDepth>
    <material>Gazebo/FlatBlack</material>
  </gazebo>
  <gazebo reference="left_f1_0">
    <mu1>0.9</mu1>
    <mu2>0.9</mu2>
    <kp>1000000.0</kp>
    <kd>1.0</kd>
    <maxVel>0.1</maxVel>
    <minDepth>0.003</minDepth>
    <maxContacts>1</maxContacts>
    <material>Gazebo/FlatBlack</material>
  </gazebo>
  <gazebo reference="left_f1_1">
    <mu1>0.9</mu1>
    <mu2>0.9</mu2>
    <kp>1000000.0</kp>
    <kd>1.0</kd>
    <maxVel>0.1</maxVel>
    <minDepth>0.003</minDepth>
    <maxContacts>1</maxContacts>
    <material>Gazebo/FlatBlack</material>
  </gazebo>
  <gazebo reference="left_f1_2">
    <mu1>0.9</mu1>
    <mu2>0.9</mu2>
    <kp>1000000.0</kp>
    <kd>1.0</kd>
    <maxVel>0.1</maxVel>
    <minDepth>0.003</minDepth>
    <maxContacts>1</maxContacts>
    <material>Gazebo/FlatBlack</material>
  </gazebo>
  <gazebo reference="left_f1_j0">
    <cfmDamping>1</cfmDamping>
  </gazebo>
  <gazebo reference="left_f1_j1">
    <cfmDamping>1</cfmDamping>
  </gazebo>
  <gazebo reference="left_f1_j2">
    <cfmDamping>1</cfmDamping>
  </gazebo>
  <link name="left_f2_base">
    <origin rpy="0 0 0" xyz="0 0 0"/>
    <inertial>
      <!-- total mass is 2.303 kg, palm is about 1.303 kg, distribute the rest into _base -->
      <mass value="0.250"/>
      <!-- (2.303 - 1.303) / 4 -->
      <origin xyz="0 0 0"/>
      <!-- model as sphere with radius of 1cm -->
      <inertia ixx="0.00001" ixy="0" ixz="0" iyy="0.00001" iyz="0" izz="0.00001"/>
    </inertial>
  </link>
  <link name="left_f2_fixed_accel">
    <origin rpy="0 0 0" xyz="0 0 0"/>
    <inertial>
      <mass value="0.01"/>
      <origin xyz="0 0 0"/>
      <inertia ixx="0.000001" ixy="0" ixz="0" iyy="0.000001" iyz="0" izz="0.000001"/>
    </inertial>
  </link>
  <link name="left_f2_0">
    <origin rpy="0 0 0" xyz="0 0 0"/>
    <inertial>
      <mass value="0.106"/>
      <!-- F1 -->
      <origin xyz="0 0 0"/>
      <!-- solid cylinder -->
      <inertia ixx="0.000011925" ixy="0" ixz="0" iyy="0.00011505" iyz="0" izz="0.00011505"/>
    </inertial>
    <!-- begin simple shape approximation of f0 -->
    <collision group="default">
      <origin rpy="0 0 0" xyz="0 0 0.003"/>
      <geometry>
        <cylinder length="0.023" radius="0.015"/>
      </geometry>
    </collision>
    <collision group="other">
      <origin rpy="1.57079632679 0 0" xyz="0.011 0 0.003"/>
      <geometry>
        <cylinder length="0.023" radius="0.01"/>
      </geometry>
    </collision>
    <!--   end simple shape approximation of f0 -->
    <!-- begin visual shape approximation of f0 -->
    <visual>
      <origin rpy="0 0 0" xyz="0 0 0.003"/>
      <geometry>
        <cylinder length="0.023" radius="0.015"/>
      </geometry>
      <material name="left_sandia_hand_skin_suntan">
        <color rgba="0.7 0.4 0.2 1.0"/>
      </material>
    </visual>
    <visual>
      <origin rpy="1.57079632679 0 0" xyz="0.011 0 0.003"/>
      <geometry>
        <cylinder length="0.023" radius="0.01"/>
      </geometry>
      <material name="left_sandia_hand_skin_suntan">
        <color rgba="0.7 0.4 0.2 1.0"/>
      </material>
    </visual>
    <!--   end visual shape approximation of f0 -->
    <!-- begin collision mesh of f0 ->
      <collision group="default">
        <origin xyz="0 0 0" rpy="0 0 0"/>
        <geometry>
          <mesh filename="package://sandia_hand_description/meshes/f0.stl"/>
        </geometry>
      </collision>
      <!-   end collision mesh of f0 -->
    <!-- begin visual mesh of f0 ->
      <visual>
        <origin xyz="0 0 0" rpy="0 0 0"/>
        <geometry>
          <mesh filename="package://sandia_hand_description/meshes/f0.stl"/>
        </geometry>
        <material name="${side}_sandia_hand_skin_suntan">
          <color rgba="0.7 0.4 0.2 1.0"/>
        </material>
      </visual>
      <!-   end visual mesh of f0 -->
  </link>
  <link name="left_f2_1">
    <origin rpy="0 0 0" xyz="0 0 0"/>
    <inertial>
      <mass value="0.033"/>
      <!-- F2 -->
      <origin xyz="0 0 0"/>
      <!-- solid cylinder -->
      <inertia ixx="0.00000165" ixy="0" ixz="0" iyy="0.00001316975" iyz="0" izz="0.00001316975"/>
    </inertial>
    <!-- begin simple shape approximation of f1 -->
    <collision group="default">
      <origin rpy="0 1.57079632679 0" xyz="0.024 0 0"/>
      <geometry>
        <cylinder length="0.067" radius="0.01"/>
      </geometry>
    </collision>
    <!--   end simple shape approximation of f1 -->
    <!-- begin visual shape approximation of f1 -->
    <visual>
      <origin rpy="0 1.57079632679 0" xyz="0.024 0 0"/>
      <geometry>
        <cylinder length="0.067" radius="0.01"/>
      </geometry>
      <material name="left_sandia_hand_skin">
        <color rgba="0.835 0.655 0.345 1.0"/>
      </material>
    </visual>
    <!--   end visual shape approximation of f1 -->
    <!-- begin collision mesh of f1 ->
      <collision group="default">
        <origin xyz="0 0 0" rpy="0 0 0"/>
        <geometry>
          <mesh filename="package://sandia_hand_description/meshes/f1.stl"/>
        </geometry>
      </collision>
      <!-   end collision mesh of f1 -->
    <!-- begin visual mesh of f1 ->
      <visual>
        <origin xyz="0 0 0" rpy="0 0 0"/>
        <geometry>
          <mesh filename="package://sandia_hand_description/meshes/f1.stl"/>
        </geometry>
        <material name="${side}_sandia_hand_skin">
          <color rgba="0.835 0.655 0.345 1.0"/>
        </material>
      </visual>
      <!-   end visual mesh of f1 -->
  </link>
  <link name="left_f2_1_accel">
    <origin rpy="0 0 0" xyz="0 0 0"/>
    <inertial>
      <mass value="0.01"/>
      <origin xyz="0 0 0"/>
      <inertia ixx="0.000001" ixy="0" ixz="0" iyy="0.000001" iyz="0" izz="0.000001"/>
    </inertial>
  </link>
  <link name="left_f2_2">
    <origin rpy="0 0 0" xyz="0 0 0"/>
    <inertial>
      <mass value="0.033"/>
      <!-- F3 -->
      <origin xyz="0 0 0"/>
      <!-- solid cylinder -->
      <inertia ixx="0.0000013365" ixy="0" ixz="0" iyy="0.000009603" iyz="0" izz="0.000009603"/>
    </inertial>
    <!-- begin simple shape approximation of f2 -->
    <collision group="default">
      <origin rpy="0 1.57079632679 0" xyz="0.024 0 0"/>
      <geometry>
        <cylinder length="0.057" radius="0.009"/>
      </geometry>
    </collision>
    <collision group="other">
      <origin rpy="0 0 0" xyz="0.052 0 0"/>
      <geometry>
        <sphere radius="0.009"/>
      </geometry>
    </collision>
    <!--   end simple shape approximation of f2 -->
    <!-- begin visual shape approximation of f2 -->
    <visual>
      <origin rpy="0 1.57079632679 0" xyz="0.024 0 0"/>
      <geometry>
        <cylinder length="0.057" radius="0.009"/>
      </geometry>
      <material name="left_sandia_hand_skin_suntan">
        <color rgba="0.8 0.6 0.3 1.0"/>
      </material>
    </visual>
    <visual>
      <origin rpy="0 0 0" xyz="0.052 0 0"/>
      <geometry>
        <sphere radius="0.009"/>
      </geometry>
      <material name="left_sandia_hand_skin_suntan">
        <color rgba="0.8 0.6 0.3 1.0"/>
      </material>
    </visual>
    <!-- begin collision mesh of f2    ->
      <collision group="default">
        <origin xyz="0 0 0" rpy="0 0 0"/>
        <geometry>
          <mesh filename="package://sandia_hand_description/meshes/f2.stl"/>
        </geometry>
      </collision>
      <!-   end collision mesh of f2 -->
    <!-- begin visual mesh of f2    ->
      <visual>
        <origin xyz="0 0 0" rpy="0 0 0"/>
        <geometry>
          <mesh filename="package://sandia_hand_description/meshes/f2.stl"/>
        </geometry>
        <material name="${side}_sandia_hand_skin_suntan">
          <color rgba="0.8 0.6 0.3 1.0"/>
        </material>
      </visual>
      <!-   end visual mesh of f2 -->
  </link>
  <link name="left_f2_2_accel">
    <origin rpy="0 0 0" xyz="0 0 0"/>
    <inertial>
      <mass value="0.01"/>
      <origin xyz="0 0 0"/>
      <inertia ixx="0.000001" ixy="0" ixz="0" iyy="0.000001" iyz="0" izz="0.000001"/>
    </inertial>
  </link>
  <joint name="left_f2_base" type="fixed">
    <parent link="left_palm"/>
    <child link="left_f2_base"/>
    <origin rpy="0 0 -0.3" xyz="0.09 -0.06245 0"/>
  </joint>
  <joint name="left_f2_j0" type="revolute">
    <axis xyz="0 0 -1"/>
    <parent link="left_f2_base"/>
    <child link="left_f2_0"/>
    <limit effort="11" lower="-1.57079632679" upper="1.57079632679" velocity="-1"/>
    <safety_controller k_position="1000.0" k_velocity="1000.0" soft_lower_limit="-11.57079" soft_upper_limit="11.57079"/>
    <dynamics damping="1.0"/>
    <origin rpy="0 0 0" xyz="0 0 0"/>
  </joint>
  <joint name="left_f2_j1" type="revolute">
    <axis xyz="0 0 1"/>
    <parent link="left_f2_0"/>
    <child link="left_f2_1"/>
    <limit effort="28" lower="-1.57079632679" upper="1.57079632679" velocity="-1"/>
    <safety_controller k_position="1000.0" k_velocity="1000.0" soft_lower_limit="-11.57079" soft_upper_limit="11.57079"/>
    <dynamics damping="1.0"/>
    <origin rpy="1.57079632679 0 0" xyz="0.028 0 0"/>
  </joint>
  <joint name="left_f2_j2" type="revolute">
    <axis xyz="0 0 1"/>
    <parent link="left_f2_1"/>
    <child link="left_f2_2"/>
    <origin rpy="0 0 0" xyz="0.05 0 0"/>
    <safety_controller k_position="1000.0" k_velocity="1000.0" soft_lower_limit="-11.57079" soft_upper_limit="11.57079"/>
    <dynamics damping="1.0"/>
    <limit effort="28" lower="-1.57079632679" upper="1.57079632679" velocity="-1"/>
  </joint>
  <joint name="left_f2_fixed_accel" type="fixed">
    <parent link="left_f2_base"/>
    <child link="left_f2_fixed_accel"/>
    <origin rpy="0 0 0" xyz="-0.05 0 0"/>
  </joint>
  <joint name="left_f2_1_accel" type="fixed">
    <parent link="left_f2_1"/>
    <child link="left_f2_1_accel"/>
    <origin rpy="-1.57079632679 0 0" xyz="0.03 0 0"/>
  </joint>
  <joint name="left_f2_2_accel" type="fixed">
    <parent link="left_f2_2"/>
    <child link="left_f2_2_accel"/>
    <origin rpy="-1.57079632679 0 0" xyz="0.04 0 0"/>
  </joint>
  <transmission name="left_f2_j0" type="pr2_mechanism_model/SimpleTransmission">
    <joint name="left_f2_j0"/>
    <actuator name="left_f2_j0_motor"/>
    <mechanicalReduction>1</mechanicalReduction>
  </transmission>
  <transmission name="left_f2_j1" type="pr2_mechanism_model/SimpleTransmission">
    <joint name="left_f2_j1"/>
    <actuator name="left_f2_j1_motor"/>
    <mechanicalReduction>1</mechanicalReduction>
  </transmission>
  <transmission name="left_f2_j2" type="pr2_mechanism_model/SimpleTransmission">
    <joint name="left_f2_j2"/>
    <actuator name="left_f2_j2_motor"/>
    <mechanicalReduction>1</mechanicalReduction>
  </transmission>
  <gazebo reference="left_f2_base">
    <mu1>0.9</mu1>
    <mu2>0.9</mu2>
    <kp>1000000.0</kp>
    <kd>1.0</kd>
    <maxVel>0.1</maxVel>
    <minDepth>0.001</minDepth>
    <material>Gazebo/FlatBlack</material>
  </gazebo>
  <gazebo reference="left_f2_0">
    <mu1>0.9</mu1>
    <mu2>0.9</mu2>
    <kp>1000000.0</kp>
    <kd>1.0</kd>
    <maxVel>0.1</maxVel>
    <minDepth>0.003</minDepth>
    <maxContacts>1</maxContacts>
    <material>Gazebo/FlatBlack</material>
  </gazebo>
  <gazebo reference="left_f2_1">
    <mu1>0.9</mu1>
    <mu2>0.9</mu2>
    <kp>1000000.0</kp>
    <kd>1.0</kd>
    <maxVel>0.1</maxVel>
    <minDepth>0.003</minDepth>
    <maxContacts>1</maxContacts>
    <material>Gazebo/FlatBlack</material>
  </gazebo>
  <gazebo reference="left_f2_2">
    <mu1>0.9</mu1>
    <mu2>0.9</mu2>
    <kp>1000000.0</kp>
    <kd>1.0</kd>
    <maxVel>0.1</maxVel>
    <minDepth>0.003</minDepth>
    <maxContacts>1</maxContacts>
    <material>Gazebo/FlatBlack</material>
  </gazebo>
  <gazebo reference="left_f2_j0">
    <cfmDamping>1</cfmDamping>
  </gazebo>
  <gazebo reference="left_f2_j1">
    <cfmDamping>1</cfmDamping>
  </gazebo>
  <gazebo reference="left_f2_j2">
    <cfmDamping>1</cfmDamping>
  </gazebo>
  <link name="left_f3_base">
    <origin rpy="0 0 0" xyz="0 0 0"/>
    <inertial>
      <!-- total mass is 2.303 kg, palm is about 1.303 kg, distribute the rest into _base -->
      <mass value="0.250"/>
      <!-- (2.303 - 1.303) / 4 -->
      <origin xyz="0 0 0"/>
      <!-- model as sphere with radius of 1cm -->
      <inertia ixx="0.00001" ixy="0" ixz="0" iyy="0.00001" iyz="0" izz="0.00001"/>
    </inertial>
  </link>
  <link name="left_f3_fixed_accel">
    <origin rpy="0 0 0" xyz="0 0 0"/>
    <inertial>
      <mass value="0.01"/>
      <origin xyz="0 0 0"/>
      <inertia ixx="0.000001" ixy="0" ixz="0" iyy="0.000001" iyz="0" izz="0.000001"/>
    </inertial>
  </link>
  <link name="left_f3_0">
    <origin rpy="0 0 0" xyz="0 0 0"/>
    <inertial>
      <mass value="0.106"/>
      <!-- F1 -->
      <origin xyz="0 0 0"/>
      <!-- solid cylinder -->
      <inertia ixx="0.000011925" ixy="0" ixz="0" iyy="0.00011505" iyz="0" izz="0.00011505"/>
    </inertial>
    <!-- begin simple shape approximation of f0 -->
    <collision group="default">
      <origin rpy="0 0 0" xyz="0 0 0.003"/>
      <geometry>
        <cylinder length="0.023" radius="0.015"/>
      </geometry>
    </collision>
    <collision group="other">
      <origin rpy="1.57079632679 0 0" xyz="0.011 0 0.003"/>
      <geometry>
        <cylinder length="0.023" radius="0.01"/>
      </geometry>
    </collision>
    <!--   end simple shape approximation of f0 -->
    <!-- begin visual shape approximation of f0 -->
    <visual>
      <origin rpy="0 0 0" xyz="0 0 0.003"/>
      <geometry>
        <cylinder length="0.023" radius="0.015"/>
      </geometry>
      <material name="left_sandia_hand_skin_suntan">
        <color rgba="0.7 0.4 0.2 1.0"/>
      </material>
    </visual>
    <visual>
      <origin rpy="1.57079632679 0 0" xyz="0.011 0 0.003"/>
      <geometry>
        <cylinder length="0.023" radius="0.01"/>
      </geometry>
      <material name="left_sandia_hand_skin_suntan">
        <color rgba="0.7 0.4 0.2 1.0"/>
      </material>
    </visual>
    <!--   end visual shape approximation of f0 -->
    <!-- begin collision mesh of f0 ->
      <collision group="default">
        <origin xyz="0 0 0" rpy="0 0 0"/>
        <geometry>
          <mesh filename="package://sandia_hand_description/meshes/f0.stl"/>
        </geometry>
      </collision>
      <!-   end collision mesh of f0 -->
    <!-- begin visual mesh of f0 ->
      <visual>
        <origin xyz="0 0 0" rpy="0 0 0"/>
        <geometry>
          <mesh filename="package://sandia_hand_description/meshes/f0.stl"/>
        </geometry>
        <material name="${side}_sandia_hand_skin_suntan">
          <color rgba="0.7 0.4 0.2 1.0"/>
        </material>
      </visual>
      <!-   end visual mesh of f0 -->
  </link>
  <link name="left_f3_1">
    <origin rpy="0 0 0" xyz="0 0 0"/>
    <inertial>
      <mass value="0.033"/>
      <!-- F2 -->
      <origin xyz="0 0 0"/>
      <!-- solid cylinder -->
      <inertia ixx="0.00000165" ixy="0" ixz="0" iyy="0.00001316975" iyz="0" izz="0.00001316975"/>
    </inertial>
    <!-- begin simple shape approximation of f1 -->
    <collision group="default">
      <origin rpy="0 1.57079632679 0" xyz="0.024 0 0"/>
      <geometry>
        <cylinder length="0.067" radius="0.01"/>
      </geometry>
    </collision>
    <!--   end simple shape approximation of f1 -->
    <!-- begin visual shape approximation of f1 -->
    <visual>
      <origin rpy="0 1.57079632679 0" xyz="0.024 0 0"/>
      <geometry>
        <cylinder length="0.067" radius="0.01"/>
      </geometry>
      <material name="left_sandia_hand_skin">
        <color rgba="0.835 0.655 0.345 1.0"/>
      </material>
    </visual>
    <!--   end visual shape approximation of f1 -->
    <!-- begin collision mesh of f1 ->
      <collision group="default">
        <origin xyz="0 0 0" rpy="0 0 0"/>
        <geometry>
          <mesh filename="package://sandia_hand_description/meshes/f1.stl"/>
        </geometry>
      </collision>
      <!-   end collision mesh of f1 -->
    <!-- begin visual mesh of f1 ->
      <visual>
        <origin xyz="0 0 0" rpy="0 0 0"/>
        <geometry>
          <mesh filename="package://sandia_hand_description/meshes/f1.stl"/>
        </geometry>
        <material name="${side}_sandia_hand_skin">
          <color rgba="0.835 0.655 0.345 1.0"/>
        </material>
      </visual>
      <!-   end visual mesh of f1 -->
  </link>
  <link name="left_f3_1_accel">
    <origin rpy="0 0 0" xyz="0 0 0"/>
    <inertial>
      <mass value="0.01"/>
      <origin xyz="0 0 0"/>
      <inertia ixx="0.000001" ixy="0" ixz="0" iyy="0.000001" iyz="0" izz="0.000001"/>
    </inertial>
  </link>
  <link name="left_f3_2">
    <origin rpy="0 0 0" xyz="0 0 0"/>
    <inertial>
      <mass value="0.033"/>
      <!-- F3 -->
      <origin xyz="0 0 0"/>
      <!-- solid cylinder -->
      <inertia ixx="0.0000013365" ixy="0" ixz="0" iyy="0.000009603" iyz="0" izz="0.000009603"/>
    </inertial>
    <!-- begin simple shape approximation of f2 -->
    <collision group="default">
      <origin rpy="0 1.57079632679 0" xyz="0.024 0 0"/>
      <geometry>
        <cylinder length="0.057" radius="0.009"/>
      </geometry>
    </collision>
    <collision group="other">
      <origin rpy="0 0 0" xyz="0.052 0 0"/>
      <geometry>
        <sphere radius="0.009"/>
      </geometry>
    </collision>
    <!--   end simple shape approximation of f2 -->
    <!-- begin visual shape approximation of f2 -->
    <visual>
      <origin rpy="0 1.57079632679 0" xyz="0.024 0 0"/>
      <geometry>
        <cylinder length="0.057" radius="0.009"/>
      </geometry>
      <material name="left_sandia_hand_skin_suntan">
        <color rgba="0.8 0.6 0.3 1.0"/>
      </material>
    </visual>
    <visual>
      <origin rpy="0 0 0" xyz="0.052 0 0"/>
      <geometry>
        <sphere radius="0.009"/>
      </geometry>
      <material name="left_sandia_hand_skin_suntan">
        <color rgba="0.8 0.6 0.3 1.0"/>
      </material>
    </visual>
    <!-- begin collision mesh of f2    ->
      <collision group="default">
        <origin xyz="0 0 0" rpy="0 0 0"/>
        <geometry>
          <mesh filename="package://sandia_hand_description/meshes/f2.stl"/>
        </geometry>
      </collision>
      <!-   end collision mesh of f2 -->
    <!-- begin visual mesh of f2    ->
      <visual>
        <origin xyz="0 0 0" rpy="0 0 0"/>
        <geometry>
          <mesh filename="package://sandia_hand_description/meshes/f2.stl"/>
        </geometry>
        <material name="${side}_sandia_hand_skin_suntan">
          <color rgba="0.8 0.6 0.3 1.0"/>
        </material>
      </visual>
      <!-   end visual mesh of f2 -->
  </link>
  <link name="left_f3_2_accel">
    <origin rpy="0 0 0" xyz="0 0 0"/>
    <inertial>
      <mass value="0.01"/>
      <origin xyz="0 0 0"/>
      <inertia ixx="0.000001" ixy="0" ixz="0" iyy="0.000001" iyz="0" izz="0.000001"/>
    </inertial>
  </link>
  <joint name="left_f3_base" type="fixed">
    <parent link="left_palm"/>
    <child link="left_f3_base"/>
    <origin rpy="0 -1.57079632679 2.3562" xyz="0.03995 0.04383 0.014"/>
  </joint>
  <joint name="left_f3_j0" type="revolute">
    <axis xyz="0 0 -1"/>
    <parent link="left_f3_base"/>
    <child link="left_f3_0"/>
    <limit effort="11" lower="-1.57079632679" upper="1.57079632679" velocity="-1"/>
    <safety_controller k_position="1000.0" k_velocity="1000.0" soft_lower_limit="-11.57079" soft_upper_limit="11.57079"/>
    <dynamics damping="1.0"/>
    <origin rpy="0 0 0" xyz="0 0 0"/>
  </joint>
  <joint name="left_f3_j1" type="revolute">
    <axis xyz="0 0 1"/>
    <parent link="left_f3_0"/>
    <child link="left_f3_1"/>
    <limit effort="28" lower="-1.57079632679" upper="1.57079632679" velocity="-1"/>
    <safety_controller k_position="1000.0" k_velocity="1000.0" soft_lower_limit="-11.57079" soft_upper_limit="11.57079"/>
    <dynamics damping="1.0"/>
    <origin rpy="1.57079632679 0 0" xyz="0.028 0 0"/>
  </joint>
  <joint name="left_f3_j2" type="revolute">
    <axis xyz="0 0 1"/>
    <parent link="left_f3_1"/>
    <child link="left_f3_2"/>
    <origin rpy="0 0 0" xyz="0.05 0 0"/>
    <safety_controller k_position="1000.0" k_velocity="1000.0" soft_lower_limit="-11.57079" soft_upper_limit="11.57079"/>
    <dynamics damping="1.0"/>
    <limit effort="28" lower="-1.57079632679" upper="1.57079632679" velocity="-1"/>
  </joint>
  <joint name="left_f3_fixed_accel" type="fixed">
    <parent link="left_f3_base"/>
    <child link="left_f3_fixed_accel"/>
    <origin rpy="0 0 0" xyz="-0.05 0 0"/>
  </joint>
  <joint name="left_f3_1_accel" type="fixed">
    <parent link="left_f3_1"/>
    <child link="left_f3_1_accel"/>
    <origin rpy="-1.57079632679 0 0" xyz="0.03 0 0"/>
  </joint>
  <joint name="left_f3_2_accel" type="fixed">
    <parent link="left_f3_2"/>
    <child link="left_f3_2_accel"/>
    <origin rpy="-1.57079632679 0 0" xyz="0.04 0 0"/>
  </joint>
  <transmission name="left_f3_j0" type="pr2_mechanism_model/SimpleTransmission">
    <joint name="left_f3_j0"/>
    <actuator name="left_f3_j0_motor"/>
    <mechanicalReduction>1</mechanicalReduction>
  </transmission>
  <transmission name="left_f3_j1" type="pr2_mechanism_model/SimpleTransmission">
    <joint name="left_f3_j1"/>
    <actuator name="left_f3_j1_motor"/>
    <mechanicalReduction>1</mechanicalReduction>
  </transmission>
  <transmission name="left_f3_j2" type="pr2_mechanism_model/SimpleTransmission">
    <joint name="left_f3_j2"/>
    <actuator name="left_f3_j2_motor"/>
    <mechanicalReduction>1</mechanicalReduction>
  </transmission>
  <gazebo reference="left_f3_base">
    <mu1>0.9</mu1>
    <mu2>0.9</mu2>
    <kp>1000000.0</kp>
    <kd>1.0</kd>
    <maxVel>0.1</maxVel>
    <minDepth>0.001</minDepth>
    <material>Gazebo/FlatBlack</material>
  </gazebo>
  <gazebo reference="left_f3_0">
    <mu1>0.9</mu1>
    <mu2>0.9</mu2>
    <kp>1000000.0</kp>
    <kd>1.0</kd>
    <maxVel>0.1</maxVel>
    <minDepth>0.003</minDepth>
    <maxContacts>1</maxContacts>
    <material>Gazebo/FlatBlack</material>
  </gazebo>
  <gazebo reference="left_f3_1">
    <mu1>0.9</mu1>
    <mu2>0.9</mu2>
    <kp>1000000.0</kp>
    <kd>1.0</kd>
    <maxVel>0.1</maxVel>
    <minDepth>0.003</minDepth>
    <maxContacts>1</maxContacts>
    <material>Gazebo/FlatBlack</material>
  </gazebo>
  <gazebo reference="left_f3_2">
    <mu1>0.9</mu1>
    <mu2>0.9</mu2>
    <kp>1000000.0</kp>
    <kd>1.0</kd>
    <maxVel>0.1</maxVel>
    <minDepth>0.003</minDepth>
    <maxContacts>1</maxContacts>
    <material>Gazebo/FlatBlack</material>
  </gazebo>
  <gazebo reference="left_f3_j0">
    <cfmDamping>1</cfmDamping>
  </gazebo>
  <gazebo reference="left_f3_j1">
    <cfmDamping>1</cfmDamping>
  </gazebo>
  <gazebo reference="left_f3_j2">
    <cfmDamping>1</cfmDamping>
  </gazebo>
  <gazebo reference="left_palm">
    <mu1>0.9</mu1>
    <mu2>0.9</mu2>
    <material>Gazebo/FlatBlack</material>
  </gazebo>
  <joint name="left_palm_left_camera_frame_joint" type="fixed">
    <origin rpy="-0.6708 -1.57079632679 3.14159265359" xyz="0.0435128991906 -0.0451672761576 0.025"/>
    <parent link="left_palm"/>
    <child link="left_palm_left_camera_frame"/>
  </joint>
  <link name="left_palm_left_camera_frame">
    <inertial>
      <mass value="0.01"/>
      <origin xyz="0 0 0"/>
      <inertia ixx="0.0001" ixy="0.0" ixz="0.0" iyy="0.0001" iyz="0.0" izz="0.0001"/>
    </inertial>
    <visual group="default">
      <origin rpy="0 0 0" xyz="0 0 0"/>
      <geometry>
        <box size="0.003 0.010 0.007"/>
      </geometry>
    </visual>
  </link>
  <joint name="left_palm_left_camera_optical_frame_joint" type="fixed">
    <origin rpy="-1.57079632679 0.0 -1.57079632679" xyz="0 0 0"/>
    <parent link="left_palm_left_camera_frame"/>
    <child link="left_palm_left_camera_optical_frame"/>
  </joint>
  <link name="left_palm_left_camera_optical_frame"/>
  <gazebo reference="left_palm_left_camera_frame">
    <sensor name="left_palm_stereo_camera" type="multicamera">
      <update_rate>30.0</update_rate>
      <camera name="left">
        <horizontal_fov>1.25663706144</horizontal_fov>
        <image>
          <width>752</width>
          <height>480</height>
          <format>L8</format>
        </image>
        <clip>
          <near>0.02</near>
          <far>100</far>
        </clip>
        <noise>
          <type>gaussian</type>
          <mean>0.0</mean>
          <stddev>0.007</stddev>
        </noise>
      </camera>
      <camera name="right">
        <pose>0 -0.04 0  0 0 0</pose>
        <horizontal_fov>1.25663706144</horizontal_fov>
        <image>
          <width>752</width>
          <height>480</height>
          <format>L8</format>
        </image>
        <clip>
          <near>0.02</near>
          <far>100</far>
        </clip>
        <noise>
          <type>gaussian</type>
          <mean>0.0</mean>
          <stddev>0.007</stddev>
        </noise>
      </camera>
      <plugin filename="libgazebo_ros_multicamera.so" name="stereo_camera_controller">
        <alwaysOn>true</alwaysOn>
        <updateRate>0.0</updateRate>
        <cameraName>sandia_hands/l_hand/camera</cameraName>
        <imageTopicName>image_raw</imageTopicName>
        <cameraInfoTopicName>camera_info</cameraInfoTopicName>
        <frameName>left_palm_left_camera_optical_frame</frameName>
        <hackBaseline>0.04</hackBaseline>
        <distortionK1>0.0</distortionK1>
        <distortionK2>0.0</distortionK2>
        <distortionK3>0.0</distortionK3>
        <distortionT1>0.0</distortionT1>
        <distortionT2>0.0</distortionT2>
      </plugin>
    </sensor>
  </gazebo>
  <joint name="left_palm_right_camera_frame_joint" type="fixed">
    <origin rpy="-0.6708 -1.57079632679 3.14159265359" xyz="0.0683774130138 -0.0138342911048 0.025"/>
    <parent link="left_palm"/>
    <child link="left_palm_right_camera_frame"/>
  </joint>
  <link name="left_palm_right_camera_frame">
    <inertial>
      <mass value="0.01"/>
      <origin xyz="0 0 0"/>
      <inertia ixx="0.0001" ixy="0.0" ixz="0.0" iyy="0.0001" iyz="0.0" izz="0.0001"/>
    </inertial>
    <visual group="default">
      <origin rpy="0 0 0" xyz="0 0 0"/>
      <geometry>
        <box size="0.003 0.010 0.007"/>
      </geometry>
    </visual>
  </link>
  <joint name="left_palm_right_camera_optical_frame_joint" type="fixed">
    <origin rpy="-1.57079632679 0.0 -1.57079632679" xyz="0 0 0"/>
    <parent link="left_palm_right_camera_frame"/>
    <child link="left_palm_right_camera_optical_frame"/>
  </joint>
  <link name="left_palm_right_camera_optical_frame"/>
  <gazebo>
    <plugin filename="libContactModelPlugin.so" name="sandia_contact_plugin">
      <contact>
        <collision>l_hand::l_hand_collision_left_palm</collision>
        <collision>l_hand::l_hand_collision_left_palm_1</collision>
        <collision>l_hand::l_hand_collision_left_palm_3</collision>
        <collision>l_hand::l_hand_collision_left_palm_4</collision>
        <collision>l_hand::l_hand_collision_left_palm_5</collision>
        <collision>left_f0_1::left_f0_1_collision</collision>
        <collision>left_f0_2::left_f0_2_collision</collision>
        <collision>left_f1_1::left_f1_1_collision</collision>
        <collision>left_f1_2::left_f1_2_collision</collision>
        <collision>left_f2_1::left_f2_1_collision</collision>
        <collision>left_f2_2::left_f2_2_collision</collision>
        <collision>left_f3_1::left_f3_1_collision</collision>
        <collision>left_f3_2::left_f3_2_collision</collision>
      </contact>
    </plugin>
  </gazebo>
  <gazebo reference="l_hand">
    <sensor name="imu_sensor" type="imu">
      <always_on>1</always_on>
      <update_rate>1000.0</update_rate>
      <imu>
        <noise>
          <type>gaussian</type>
          <rate>
            <mean>0.0</mean>
            <stddev>2e-4</stddev>
            <bias_mean>0.0000075</bias_mean>
            <bias_stddev>0.0000008</bias_stddev>
          </rate>
          <accel>
            <mean>0.0</mean>
            <stddev>1.7e-2</stddev>
            <bias_mean>0.1</bias_mean>
            <bias_stddev>0.001</bias_stddev>
          </accel>
        </noise>
      </imu>
    </sensor>
  </gazebo>
</robot>
